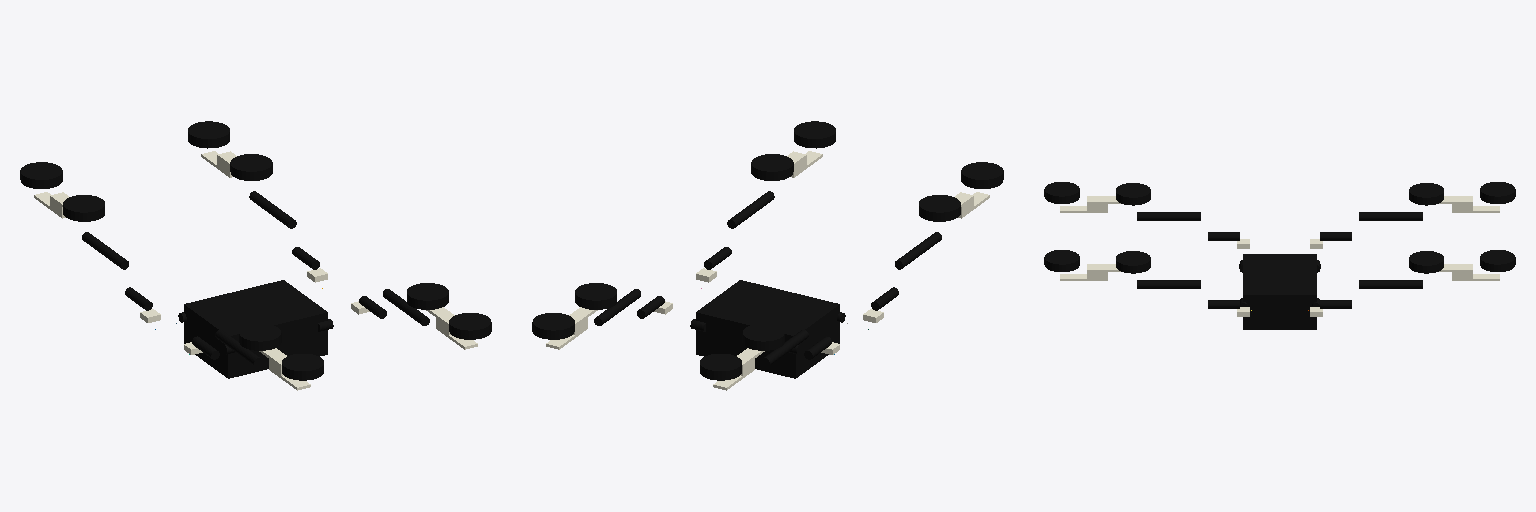
--- Facts derived from the render (not from the file) ---
The picture shows the robot from 3 angles, left to right: view 1: azimuth 30°, elevation 25°; view 2: azimuth 150°, elevation 25°; view 3: azimuth 270°, elevation 25°; orthographic projection.
Robot: A-2085-04 — 90 links, 89 joints (24 continuous, 65 fixed); root link cricket_base; default pose: every joint at zero.
Visible links, largest first — view 1: cricket_base, leg1_idle_pulley, leg2_drive_pulley/INPUT_INTERFACE, leg3_drive_pulley/INPUT_INTERFACE, leg4_idle_pulley, leg1_drive_pulley/INPUT_INTERFACE, leg2_idle_pulley, leg3_idle_pulley, leg4_drive_pulley/INPUT_INTERFACE, leg1_knee_ankle/INPUT_INTERFACE, leg3_knee_ankle/INPUT_INTERFACE, leg4_knee_ankle/INPUT_INTERFACE (+1 smaller); view 2: cricket_base, leg1_drive_pulley/INPUT_INTERFACE, leg2_idle_pulley, leg3_idle_pulley, leg4_drive_pulley/INPUT_INTERFACE, leg2_drive_pulley/INPUT_INTERFACE, leg1_idle_pulley, leg4_idle_pulley, leg3_drive_pulley/INPUT_INTERFACE, leg2_knee_ankle/INPUT_INTERFACE, leg4_knee_ankle/INPUT_INTERFACE, leg3_knee_ankle/INPUT_INTERFACE (+1 smaller); view 3: cricket_base, leg3_drive_pulley/INPUT_INTERFACE, leg4_drive_pulley/INPUT_INTERFACE, leg1_drive_pulley/INPUT_INTERFACE, leg2_drive_pulley/INPUT_INTERFACE, leg1_idle_pulley, leg2_idle_pulley, leg3_idle_pulley, leg4_idle_pulley, leg1_knee_ankle/INPUT_INTERFACE, leg2_knee_ankle/INPUT_INTERFACE, leg3_knee_ankle/INPUT_INTERFACE (+1 smaller).
Link boxes in pixels (<box>): cricket_base: <box>184,280,327,378</box>; leg1_idle_pulley: <box>230,154,272,180</box>; leg2_drive_pulley/INPUT_INTERFACE: <box>449,313,491,339</box>; leg3_drive_pulley/INPUT_INTERFACE: <box>20,162,62,188</box>; leg4_idle_pulley: <box>239,324,281,350</box>; leg1_drive_pulley/INPUT_INTERFACE: <box>188,121,229,148</box>; leg2_idle_pulley: <box>407,283,448,309</box>; leg3_idle_pulley: <box>63,195,104,221</box>; leg4_drive_pulley/INPUT_INTERFACE: <box>282,354,323,380</box>; leg1_knee_ankle/INPUT_INTERFACE: <box>249,191,296,228</box>; leg3_knee_ankle/INPUT_INTERFACE: <box>82,232,128,269</box>; leg4_knee_ankle/INPUT_INTERFACE: <box>215,330,262,366</box>; cricket_base: <box>696,280,839,378</box>; leg1_drive_pulley/INPUT_INTERFACE: <box>532,313,574,339</box>; leg2_idle_pulley: <box>751,154,793,180</box>; leg3_idle_pulley: <box>742,324,784,350</box>; leg4_drive_pulley/INPUT_INTERFACE: <box>961,162,1003,188</box>; leg2_drive_pulley/INPUT_INTERFACE: <box>794,121,835,148</box>; leg1_idle_pulley: <box>575,283,616,309</box>; leg4_idle_pulley: <box>919,195,960,221</box>; leg3_drive_pulley/INPUT_INTERFACE: <box>700,354,741,380</box>; leg2_knee_ankle/INPUT_INTERFACE: <box>727,191,774,228</box>; leg4_knee_ankle/INPUT_INTERFACE: <box>895,232,941,269</box>; leg3_knee_ankle/INPUT_INTERFACE: <box>761,330,808,366</box>; cricket_base: <box>1243,254,1316,329</box>; leg3_drive_pulley/INPUT_INTERFACE: <box>1480,182,1515,203</box>; leg4_drive_pulley/INPUT_INTERFACE: <box>1044,182,1079,203</box>; leg1_drive_pulley/INPUT_INTERFACE: <box>1480,250,1515,271</box>; leg2_drive_pulley/INPUT_INTERFACE: <box>1044,250,1079,271</box>; leg1_idle_pulley: <box>1409,251,1443,273</box>; leg2_idle_pulley: <box>1116,251,1150,273</box>; leg3_idle_pulley: <box>1409,183,1443,205</box>; leg4_idle_pulley: <box>1116,183,1150,205</box>; leg1_knee_ankle/INPUT_INTERFACE: <box>1359,280,1422,288</box>; leg2_knee_ankle/INPUT_INTERFACE: <box>1137,280,1200,288</box>; leg3_knee_ankle/INPUT_INTERFACE: <box>1359,212,1422,220</box>.
Size in the robot's own frame: 0.756 by 1.81 by 0.369 metres.
0 mesh visuals loaded from 7 distinct referenced files (none loaded); not drawn: 52 (reference not matched to a file when rendering).

The robot description file, URDF, robot "A-2085-04":
<?xml version="1.0" encoding="utf-8"?>
<!-- =================================================================================== -->
<!-- |    This document was autogenerated by xacro from cricket.xacro                  | -->
<!-- |    EDITING THIS FILE BY HAND IS NOT RECOMMENDED                                 | -->
<!-- =================================================================================== -->
<robot name="A-2085-04" version="1.0">
  <!-- This is a single xacro file you can include to get
  all of the HEBI components -->
  <!-- This automatically loads the gazebo plugin for xacro models
       which include hebi.xacro -->
  <gazebo>
    <plugin filename="libhebi_gazebo_plugin.so" name="hebi_gazebo_plugin"/>
  </gazebo>
  <gazebo>
    <plugin filename="libhebi_gazebo_plugin.so" name="hebi_gazebo_plugin">
      <actuators>
        <actuator family="Cricket" mocked="false" name="L1_J1_shoulder1" type="X8_16"/>
        <actuator family="Cricket" mocked="false" name="L1_J2_shoulder2" type="X8_16"/>
        <actuator family="Cricket" mocked="false" name="L1_J3_knee" type="X8_16"/>
        <actuator family="Cricket" mocked="false" name="L1_J4_ankle" type="X8_16"/>
        <actuator family="Cricket" mocked="false" name="L1_J5_track" type="X8_16"/>
        <actuator family="Cricket" mocked="false" name="L2_J1_shoulder1" type="X8_16"/>
        <actuator family="Cricket" mocked="false" name="L2_J2_shoulder2" type="X8_16"/>
        <actuator family="Cricket" mocked="false" name="L2_J3_knee" type="X8_16"/>
        <actuator family="Cricket" mocked="false" name="L2_J4_ankle" type="X8_16"/>
        <actuator family="Cricket" mocked="false" name="L2_J5_track" type="X8_16"/>
        <actuator family="Cricket" mocked="false" name="L3_J1_shoulder1" type="X8_16"/>
        <actuator family="Cricket" mocked="false" name="L3_J2_shoulder2" type="X8_16"/>
        <actuator family="Cricket" mocked="false" name="L3_J3_knee" type="X8_16"/>
        <actuator family="Cricket" mocked="false" name="L3_J4_ankle" type="X8_16"/>
        <actuator family="Cricket" mocked="false" name="L3_J5_track" type="X8_16"/>
        <actuator family="Cricket" mocked="false" name="L4_J1_shoulder1" type="X8_16"/>
        <actuator family="Cricket" mocked="false" name="L4_J2_shoulder2" type="X8_16"/>
        <actuator family="Cricket" mocked="false" name="L4_J3_knee" type="X8_16"/>
        <actuator family="Cricket" mocked="false" name="L4_J4_ankle" type="X8_16"/>
        <actuator family="Cricket" mocked="false" name="L4_J5_track" type="X8_16"/>
      </actuators>
    </plugin>
  </gazebo>
  <link name="cricket_base">
    <visual>
      <origin rpy="0 0 0" xyz="0 0 0"/>
      <geometry>
        <box size="0.370 0.285 0.150"/>
      </geometry>
      <material name="black">
        <color rgba="0.1 0.1 0.1 1"/>
      </material>
    </visual>
    <collision>
      <origin rpy="0 0 0" xyz="0 0 0"/>
      <geometry>
        <box size="0.370 0.285 0.150"/>
      </geometry>
    </collision>
  </link>
  <link name="cricket_base_inertia">
    <inertial>
      <mass value="2.0"/>
      <origin rpy="0 0 0" xyz="0 0 0"/>
      <inertia ixx="0.001" ixy="0" ixz="0" iyy="0.001" iyz="0" izz="0.001"/>
    </inertial>
  </link>
  <joint name="cricket_base_inertia_joint" type="fixed">
    <parent link="cricket_base"/>
    <child link="cricket_base_inertia"/>
  </joint>
  <joint name="base_leg1_joint" type="fixed">
    <origin rpy="-1.57079632679 0 0" xyz="0.135 0.100 0.030"/>
    <parent link="cricket_base"/>
    <child link="leg1_base_bracket/INPUT_INTERFACE"/>
  </joint>
  <link name="leg1_base_bracket/INPUT_INTERFACE">
    <visual>
      <origin rpy="0 0 0" xyz="0.0 0.0 0.01"/>
      <geometry>
        <box size="0.05 0.05 0.02"/>
      </geometry>
      <material name="beige">
        <color rgba="0.96 0.945 0.871 1"/>
      </material>
    </visual>
    <inertial>
      <mass value="0.05"/>
      <origin rpy="0 0 0" xyz="0 0 0"/>
      <inertia ixx="0.001" ixy="0" ixz="0" iyy="0.001" iyz="0" izz="0.001"/>
    </inertial>
  </link>
  <joint name="leg1_base_bracket_child_joint" type="fixed">
    <origin rpy="0 0 0" xyz="0.0 0.0 0.02"/>
    <parent link="leg1_base_bracket/INPUT_INTERFACE"/>
    <child link="leg1_base_shoulder1/INPUT_INTERFACE"/>
  </joint>
  <link name="leg1_base_shoulder1/INPUT_INTERFACE">
    <!-- Input Cap -->
    <visual>
      <origin rpy="0 0 0" xyz="0 0 0"/>
      <geometry>
        <mesh filename="package://hebi_description/meshes/A-2038-02.stl"/>
      </geometry>
      <material name="black">
        <color rgba="0.1 0.1 0.1 1"/>
      </material>
    </visual>
    <collision>
      <origin rpy="0 0 0" xyz="0 0 0"/>
      <geometry>
        <mesh filename="package://hebi_description/meshes/A-2038-02.stl"/>
      </geometry>
    </collision>
    <!-- Link Pipe -->
    <visual>
      <origin rpy="0 1.57075 0" xyz="0.0375 0 0.02"/>
      <geometry>
        <cylinder length="0.0496" radius=".016"/>
      </geometry>
      <material name="black">
        <color rgba="0.1 0.1 0.1 1"/>
      </material>
    </visual>
    <collision>
      <origin rpy="0 1.57075 0" xyz="0.0375 0 0.02"/>
      <geometry>
        <cylinder length="0.0496" radius=".016"/>
      </geometry>
    </collision>
    <!-- Output Cap -->
    <visual>
      <origin rpy="1.57079632679 4.71238898038 1.57079632679" xyz="0.075 0 0.02"/>
      <geometry>
        <mesh filename="package://hebi_description/meshes/A-2226-01.stl" scale="0.001 0.001 0.001"/>
      </geometry>
      <material name="black">
        <color rgba="0.1 0.1 0.1 1"/>
      </material>
    </visual>
    <collision>
      <origin rpy="1.57079632679 4.71238898038 1.57079632679" xyz="0.075 0 0.02"/>
      <geometry>
        <mesh filename="package://hebi_description/meshes/A-2039-02.stl"/>
      </geometry>
    </collision>
    <!-- Approximate inertia as thin rod about x axis -->
    <inertial>
      <origin rpy="0 0 0" xyz="0.0375 0 0.02"/>
      <mass value="0.302"/>
      <inertia ixx="0.0" ixy="0.0" ixz="0.0" iyy="0.0001415625" iyz="0.0" izz="0.0001415625"/>
    </inertial>
  </link>
  <gazebo reference="leg1_base_shoulder1/INPUT_INTERFACE">
    <material>Gazebo/Black</material>
  </gazebo>
  <joint name="leg1_base_shoulder1/OUTPUT_JOINT" type="fixed">
    <parent link="leg1_base_shoulder1/INPUT_INTERFACE"/>
    <child link="Cricket/L1_J1_shoulder1/INPUT_INTERFACE"/>
    <origin rpy="1.57079632679 4.71238898038 1.57079632679" xyz="0.075 0 0.02"/>
  </joint>
  <gazebo reference="leg1_base_shoulder1/OUTPUT_JOINT">
    <disableFixedJointLumping>true</disableFixedJointLumping>
    <preserveFixedJoint>true</preserveFixedJoint>
  </gazebo>
  <link name="Cricket/L1_J1_shoulder1/INPUT_INTERFACE">
    <visual>
      <origin rpy="0 0 0" xyz="0 0 0"/>
      <geometry>
        <mesh filename="package://hebi_description/meshes/X8.stl" scale="0.001 0.001 0.001"/>
      </geometry>
      <material name="red">
        <color rgba=".82 0.06 0.06 1"/>
      </material>
    </visual>
    <collision>
      <origin rpy="0 0 0" xyz="0 0 0"/>
      <geometry>
        <mesh filename="package://hebi_description/meshes/X8.stl" scale="0.001 0.001 0.001"/>
      </geometry>
    </collision>
    <inertial>
      <mass value="0.5"/>
      <origin rpy="0 0 0" xyz="-0.0145 -0.0031 0.0242"/>
      <inertia ixx="0.000246" ixy="0.0000444" ixz="0.0000266" iyy="0.000380" iyz="0.00000422" izz="0.000463"/>
    </inertial>
  </link>
  <gazebo reference="Cricket/L1_J1_shoulder1/INPUT_INTERFACE">
    <material>Gazebo/Red</material>
  </gazebo>
  <link name="HEBI_SIM/Cricket/L1_J1_shoulder1/X8_16">
    <visual>
      <origin rpy="0 0 0" xyz="-0.03 0 0.02"/>
      <geometry>
        <sphere radius="0.001"/>
      </geometry>
    </visual>
    <inertial>
      <mass value="0.001"/>
      <origin rpy="0 0 0" xyz="0 0 0"/>
      <inertia ixx="0.000001" ixy="0" ixz="0" iyy="0.000001" iyz="0" izz="0.000001"/>
    </inertial>
  </link>
  <joint name="HEBI_SIM_JOINT/Cricket/L1_J1_shoulder1" type="fixed">
    <parent link="Cricket/L1_J1_shoulder1/INPUT_INTERFACE"/>
    <child link="HEBI_SIM/Cricket/L1_J1_shoulder1/X8_16"/>
    <origin rpy="0 0 0" xyz="0 0 0"/>
  </joint>
  <gazebo reference="HEBI_SIM_JOINT/Cricket/L1_J1_shoulder1">
    <disableFixedJointLumping>true</disableFixedJointLumping>
    <preserveFixedJoint>true</preserveFixedJoint>
  </gazebo>
  <joint name="Cricket/L1_J1_shoulder1" type="continuous">
    <parent link="Cricket/L1_J1_shoulder1/INPUT_INTERFACE"/>
    <child link="leg_1_shoulder1_shoulder2/INPUT_INTERFACE"/>
    <origin rpy="0 0 0" xyz="0 0 0.045"/>
    <axis xyz="0 0 1"/>
    <limit effort="38" velocity="1.571"/>
    <dynamics damping="0.5" friction="0.5"/>
  </joint>
  <link name="leg_1_shoulder1_shoulder2/INPUT_INTERFACE">
    <visual>
      <origin rpy="1.57079632679 0 1.57079632679" xyz="0 0 0.005"/>
      <geometry>
        <mesh filename="package://hebi_description/meshes/PM-2149-01.stl" scale="0.001 0.001 0.001"/>
      </geometry>
      <material name="black">
        <color rgba="0.1 0.1 0.1 1"/>
      </material>
    </visual>
    <visual>
      <origin rpy="1.57079632679 0 3.14159265359" xyz="0 -.03 .04"/>
      <geometry>
        <mesh filename="package://hebi_description/meshes/PM-2150-01L.stl" scale="0.001 0.001 0.001"/>
      </geometry>
      <material name="black">
        <color rgba="0.1 0.1 0.1 1"/>
      </material>
    </visual>
    <collision>
      <origin rpy="1.57079632679 0 1.57079632679" xyz="0 0 0.005"/>
      <geometry>
        <mesh filename="package://hebi_description/meshes/PM-2149-01.stl" scale="0.001 0.001 0.001"/>
      </geometry>
    </collision>
    <collision>
      <origin rpy="1.57079632679 0 3.14159265359" xyz="0 -.03 .04"/>
      <geometry>
        <mesh filename="package://hebi_description/meshes/PM-2150-01L.stl" scale="0.001 0.001 0.001"/>
      </geometry>
    </collision>
    <!-- NOTE: inertia is just modelled as small sphere, and could be improved. -->
    <inertial>
      <origin rpy="0 0 0" xyz="0 -0.01125 .0275"/>
      <mass value="0.215"/>
      <inertia ixx="0.0003096" ixy="0.0" ixz="0.0" iyy="0.0003096" iyz="0.0" izz="0.0003096"/>
    </inertial>
  </link>
  <gazebo reference="leg_1_shoulder1_shoulder2/INPUT_INTERFACE">
    <material>Gazebo/Black</material>
  </gazebo>
  <joint name="leg_1_shoulder1_shoulder2/OUTPUT_INTERFACE" type="fixed">
    <parent link="leg_1_shoulder1_shoulder2/INPUT_INTERFACE"/>
    <child link="Cricket/L1_J2_shoulder2/INPUT_INTERFACE"/>
    <origin rpy="-1.57079632679 0 0" xyz="0 -.0225 .055"/>
  </joint>
  <gazebo reference="leg_1_shoulder1_shoulder2/OUTPUT_INTERFACE">
    <disableFixedJointLumping>true</disableFixedJointLumping>
    <preserveFixedJoint>true</preserveFixedJoint>
  </gazebo>
  <link name="Cricket/L1_J2_shoulder2/INPUT_INTERFACE">
    <visual>
      <origin rpy="0 0 0" xyz="0 0 0"/>
      <geometry>
        <mesh filename="package://hebi_description/meshes/X8.stl" scale="0.001 0.001 0.001"/>
      </geometry>
      <material name="red">
        <color rgba=".82 0.06 0.06 1"/>
      </material>
    </visual>
    <collision>
      <origin rpy="0 0 0" xyz="0 0 0"/>
      <geometry>
        <mesh filename="package://hebi_description/meshes/X8.stl" scale="0.001 0.001 0.001"/>
      </geometry>
    </collision>
    <inertial>
      <mass value="0.5"/>
      <origin rpy="0 0 0" xyz="-0.0145 -0.0031 0.0242"/>
      <inertia ixx="0.000246" ixy="0.0000444" ixz="0.0000266" iyy="0.000380" iyz="0.00000422" izz="0.000463"/>
    </inertial>
  </link>
  <gazebo reference="Cricket/L1_J2_shoulder2/INPUT_INTERFACE">
    <material>Gazebo/Red</material>
  </gazebo>
  <link name="HEBI_SIM/Cricket/L1_J2_shoulder2/X8_16">
    <visual>
      <origin rpy="0 0 0" xyz="-0.03 0 0.02"/>
      <geometry>
        <sphere radius="0.001"/>
      </geometry>
    </visual>
    <inertial>
      <mass value="0.001"/>
      <origin rpy="0 0 0" xyz="0 0 0"/>
      <inertia ixx="0.000001" ixy="0" ixz="0" iyy="0.000001" iyz="0" izz="0.000001"/>
    </inertial>
  </link>
  <joint name="HEBI_SIM_JOINT/Cricket/L1_J2_shoulder2" type="fixed">
    <parent link="Cricket/L1_J2_shoulder2/INPUT_INTERFACE"/>
    <child link="HEBI_SIM/Cricket/L1_J2_shoulder2/X8_16"/>
    <origin rpy="0 0 0" xyz="0 0 0"/>
  </joint>
  <gazebo reference="HEBI_SIM_JOINT/Cricket/L1_J2_shoulder2">
    <disableFixedJointLumping>true</disableFixedJointLumping>
    <preserveFixedJoint>true</preserveFixedJoint>
  </gazebo>
  <joint name="Cricket/L1_J2_shoulder2" type="continuous">
    <parent link="Cricket/L1_J2_shoulder2/INPUT_INTERFACE"/>
    <child link="leg_1_knee_to_link_spacer/INPUT_INTERFACE"/>
    <origin rpy="0 0 0" xyz="0 0 0.045"/>
    <axis xyz="0 0 1"/>
    <limit effort="38" velocity="1.571"/>
    <dynamics damping="0.5" friction="0.5"/>
  </joint>
  <link name="leg_1_knee_to_link_spacer/INPUT_INTERFACE">
    <visual>
      <origin rpy="0 0 0" xyz="0.0 0.0 0.01"/>
      <geometry>
        <box size="0.05 0.05 0.02"/>
      </geometry>
      <material name="beige">
        <color rgba="0.96 0.945 0.871 1"/>
      </material>
    </visual>
    <inertial>
      <mass value="0.05"/>
      <origin rpy="0 0 0" xyz="0 0 0"/>
      <inertia ixx="0.001" ixy="0" ixz="0" iyy="0.001" iyz="0" izz="0.001"/>
    </inertial>
  </link>
  <joint name="leg_1_knee_to_link_spacer_child_joint" type="fixed">
    <origin rpy="0 0 0" xyz="0.0 0.0 0.02"/>
    <parent link="leg_1_knee_to_link_spacer/INPUT_INTERFACE"/>
    <child link="leg_1_shoulder2_knee/INPUT_INTERFACE"/>
  </joint>
  <link name="leg_1_shoulder2_knee/INPUT_INTERFACE">
    <!-- Input Cap -->
    <visual>
      <origin rpy="0 0 0" xyz="0 0 0"/>
      <geometry>
        <mesh filename="package://hebi_description/meshes/A-2038-02.stl"/>
      </geometry>
      <material name="black">
        <color rgba="0.1 0.1 0.1 1"/>
      </material>
    </visual>
    <collision>
      <origin rpy="0 0 0" xyz="0 0 0"/>
      <geometry>
        <mesh filename="package://hebi_description/meshes/A-2038-02.stl"/>
      </geometry>
    </collision>
    <!-- Link Pipe -->
    <visual>
      <origin rpy="0 1.57075 0" xyz="0.075 0 0.02"/>
      <geometry>
        <cylinder length="0.1246" radius=".016"/>
      </geometry>
      <material name="black">
        <color rgba="0.1 0.1 0.1 1"/>
      </material>
    </visual>
    <collision>
      <origin rpy="0 1.57075 0" xyz="0.075 0 0.02"/>
      <geometry>
        <cylinder length="0.1246" radius=".016"/>
      </geometry>
    </collision>
    <!-- Output Cap -->
    <visual>
      <origin rpy="0 0 0" xyz="0.15 0.0 0.04"/>
      <geometry>
        <mesh filename="package://hebi_description/meshes/A-2039-02.stl"/>
      </geometry>
      <material name="black">
        <color rgba="0.1 0.1 0.1 1"/>
      </material>
    </visual>
    <collision>
      <origin rpy="0 0 0" xyz="0.15 0.0 0.04"/>
      <geometry>
        <mesh filename="package://hebi_description/meshes/A-2039-02.stl"/>
      </geometry>
    </collision>
    <!-- Approximate inertia as thin rod about x axis -->
    <inertial>
      <origin rpy="0 0 0" xyz="0.075 0 0.02"/>
      <mass value="0.332"/>
      <inertia ixx="0.0" ixy="0.0" ixz="0.0" iyy="0.0006225" iyz="0.0" izz="0.0006225"/>
    </inertial>
  </link>
  <gazebo reference="leg_1_shoulder2_knee/INPUT_INTERFACE">
    <material>Gazebo/Black</material>
  </gazebo>
  <joint name="leg_1_shoulder2_knee/OUTPUT_JOINT" type="fixed">
    <parent link="leg_1_shoulder2_knee/INPUT_INTERFACE"/>
    <child link="Cricket/L1_J3_knee/INPUT_INTERFACE"/>
    <origin rpy="0 0 0" xyz="0.15 -0.0 0.04"/>
  </joint>
  <gazebo reference="leg_1_shoulder2_knee/OUTPUT_JOINT">
    <disableFixedJointLumping>true</disableFixedJointLumping>
    <preserveFixedJoint>true</preserveFixedJoint>
  </gazebo>
  <link name="Cricket/L1_J3_knee/INPUT_INTERFACE">
    <visual>
      <origin rpy="0 0 0" xyz="0 0 0"/>
      <geometry>
        <mesh filename="package://hebi_description/meshes/X8.stl" scale="0.001 0.001 0.001"/>
      </geometry>
      <material name="red">
        <color rgba=".82 0.06 0.06 1"/>
      </material>
    </visual>
    <collision>
      <origin rpy="0 0 0" xyz="0 0 0"/>
      <geometry>
        <mesh filename="package://hebi_description/meshes/X8.stl" scale="0.001 0.001 0.001"/>
      </geometry>
    </collision>
    <inertial>
      <mass value="0.5"/>
      <origin rpy="0 0 0" xyz="-0.0145 -0.0031 0.0242"/>
      <inertia ixx="0.000246" ixy="0.0000444" ixz="0.0000266" iyy="0.000380" iyz="0.00000422" izz="0.000463"/>
    </inertial>
  </link>
  <gazebo reference="Cricket/L1_J3_knee/INPUT_INTERFACE">
    <material>Gazebo/Red</material>
  </gazebo>
  <link name="HEBI_SIM/Cricket/L1_J3_knee/X8_16">
    <visual>
      <origin rpy="0 0 0" xyz="-0.03 0 0.02"/>
      <geometry>
        <sphere radius="0.001"/>
      </geometry>
    </visual>
    <inertial>
      <mass value="0.001"/>
      <origin rpy="0 0 0" xyz="0 0 0"/>
      <inertia ixx="0.000001" ixy="0" ixz="0" iyy="0.000001" iyz="0" izz="0.000001"/>
    </inertial>
  </link>
  <joint name="HEBI_SIM_JOINT/Cricket/L1_J3_knee" type="fixed">
    <parent link="Cricket/L1_J3_knee/INPUT_INTERFACE"/>
    <child link="HEBI_SIM/Cricket/L1_J3_knee/X8_16"/>
    <origin rpy="0 0 0" xyz="0 0 0"/>
  </joint>
  <gazebo reference="HEBI_SIM_JOINT/Cricket/L1_J3_knee">
    <disableFixedJointLumping>true</disableFixedJointLumping>
    <preserveFixedJoint>true</preserveFixedJoint>
  </gazebo>
  <joint name="Cricket/L1_J3_knee" type="continuous">
    <parent link="Cricket/L1_J3_knee/INPUT_INTERFACE"/>
    <child link="leg1_knee_ankle/INPUT_INTERFACE"/>
    <origin rpy="0 0 0" xyz="0 0 0.045"/>
    <axis xyz="0 0 1"/>
    <limit effort="38" velocity="1.571"/>
    <dynamics damping="0.5" friction="0.5"/>
  </joint>
  <link name="leg1_knee_ankle/INPUT_INTERFACE">
    <!-- Input Cap -->
    <visual>
      <origin rpy="0 0 0" xyz="0 0 0"/>
      <geometry>
        <mesh filename="package://hebi_description/meshes/A-2038-02.stl"/>
      </geometry>
      <material name="black">
        <color rgba="0.1 0.1 0.1 1"/>
      </material>
    </visual>
    <collision>
      <origin rpy="0 0 0" xyz="0 0 0"/>
      <geometry>
        <mesh filename="package://hebi_description/meshes/A-2038-02.stl"/>
      </geometry>
    </collision>
    <!-- Link Pipe -->
    <visual>
      <origin rpy="0 1.57075 0" xyz="0.1375 0 0.02"/>
      <geometry>
        <cylinder length="0.2496" radius=".016"/>
      </geometry>
      <material name="black">
        <color rgba="0.1 0.1 0.1 1"/>
      </material>
    </visual>
    <collision>
      <origin rpy="0 1.57075 0" xyz="0.1375 0 0.02"/>
      <geometry>
        <cylinder length="0.2496" radius=".016"/>
      </geometry>
    </collision>
    <!-- Output Cap -->
    <visual>
      <origin rpy="0 0 0" xyz="0.275 0.0 0.04"/>
      <geometry>
        <mesh filename="package://hebi_description/meshes/A-2039-02.stl"/>
      </geometry>
      <material name="black">
        <color rgba="0.1 0.1 0.1 1"/>
      </material>
    </visual>
    <collision>
      <origin rpy="0 0 0" xyz="0.275 0.0 0.04"/>
      <geometry>
        <mesh filename="package://hebi_description/meshes/A-2039-02.stl"/>
      </geometry>
    </collision>
    <!-- Approximate inertia as thin rod about x axis -->
    <inertial>
      <origin rpy="0 0 0" xyz="0.1375 0 0.02"/>
      <mass value="0.382"/>
      <inertia ixx="0.0" ixy="0.0" ixz="0.0" iyy="0.00240739583333" iyz="0.0" izz="0.00240739583333"/>
    </inertial>
  </link>
  <gazebo reference="leg1_knee_ankle/INPUT_INTERFACE">
    <material>Gazebo/Black</material>
  </gazebo>
  <joint name="leg1_knee_ankle/OUTPUT_JOINT" type="fixed">
    <parent link="leg1_knee_ankle/INPUT_INTERFACE"/>
    <child link="leg1_ankle_spacer/INPUT_INTERFACE"/>
    <origin rpy="0 0 0" xyz="0.275 -0.0 0.04"/>
  </joint>
  <gazebo reference="leg1_knee_ankle/OUTPUT_JOINT">
    <disableFixedJointLumping>true</disableFixedJointLumping>
    <preserveFixedJoint>true</preserveFixedJoint>
  </gazebo>
  <link name="leg1_ankle_spacer/INPUT_INTERFACE">
    <inertial>
      <mass value="0.01"/>
      <origin rpy="0 0 0" xyz="0 0 0"/>
      <inertia ixx="0.001" ixy="0" ixz="0" iyy="0.001" iyz="0" izz="0.001"/>
    </inertial>
  </link>
  <link name="Cricket/L1_J4_ankle/INPUT_INTERFACE">
    <visual>
      <origin rpy="0 0 0" xyz="0 0 0"/>
      <geometry>
        <mesh filename="package://hebi_description/meshes/X8.stl" scale="0.001 0.001 0.001"/>
      </geometry>
      <material name="red">
        <color rgba=".82 0.06 0.06 1"/>
      </material>
    </visual>
    <collision>
      <origin rpy="0 0 0" xyz="0 0 0"/>
      <geometry>
        <mesh filename="package://hebi_description/meshes/X8.stl" scale="0.001 0.001 0.001"/>
      </geometry>
    </collision>
    <inertial>
      <mass value="0.5"/>
      <origin rpy="0 0 0" xyz="-0.0145 -0.0031 0.0242"/>
      <inertia ixx="0.000246" ixy="0.0000444" ixz="0.0000266" iyy="0.000380" iyz="0.00000422" izz="0.000463"/>
    </inertial>
  </link>
  <gazebo reference="Cricket/L1_J4_ankle/INPUT_INTERFACE">
    <material>Gazebo/Red</material>
  </gazebo>
  <link name="HEBI_SIM/Cricket/L1_J4_ankle/X8_16">
    <visual>
      <origin rpy="0 0 0" xyz="-0.03 0 0.02"/>
      <geometry>
        <sphere radius="0.001"/>
      </geometry>
    </visual>
    <inertial>
      <mass value="0.001"/>
      <origin rpy="0 0 0" xyz="0 0 0"/>
      <inertia ixx="0.000001" ixy="0" ixz="0" iyy="0.000001" iyz="0" izz="0.000001"/>
    </inertial>
  </link>
  <joint name="HEBI_SIM_JOINT/Cricket/L1_J4_ankle" type="fixed">
    <parent link="Cricket/L1_J4_ankle/INPUT_INTERFACE"/>
    <child link="HEBI_SIM/Cricket/L1_J4_ankle/X8_16"/>
    <origin rpy="0 0 0" xyz="0 0 0"/>
  </joint>
  <gazebo reference="HEBI_SIM_JOINT/Cricket/L1_J4_ankle">
    <disableFixedJointLumping>true</disableFixedJointLumping>
    <preserveFixedJoint>true</preserveFixedJoint>
  </gazebo>
  <joint name="Cricket/L1_J4_ankle" type="continuous">
    <parent link="leg1_ankle_spacer/INPUT_INTERFACE"/>
    <child link="Cricket/L1_J4_ankle/INPUT_INTERFACE"/>
    <origin rpy="0 3.14159265359 0" xyz="0 0 0.045"/>
    <axis xyz="0 0 1"/>
    <limit effort="38" velocity="1.571"/>
    <dynamics damping="0.5" friction="0.5"/>
  </joint>
  <joint name="Cricket/L1_J4_ankle_fixed" type="fixed">
    <parent link="Cricket/L1_J4_ankle/INPUT_INTERFACE"/>
    <child link="leg1_track_bracket_1/INPUT_INTERFACE"/>
    <origin rpy="0 0 0" xyz="0 0 0"/>
  </joint>
  <link name="leg1_track_bracket_1/INPUT_INTERFACE">
    <visual>
      <origin rpy="0 0 0" xyz="-0.0685 0.0 -0.005"/>
      <geometry>
        <box size="0.15 0.05 0.01"/>
      </geometry>
      <material name="beige">
        <color rgba="0.96 0.945 0.871 1"/>
      </material>
    </visual>
    <inertial>
      <mass value="0.3"/>
      <origin rpy="0 0 0" xyz="0 0 0"/>
      <inertia ixx="0.001" ixy="0" ixz="0" iyy="0.001" iyz="0" izz="0.001"/>
    </inertial>
  </link>
  <joint name="leg1_track_bracket_1_child_joint" type="fixed">
    <origin rpy="0 0 0" xyz="-0.137 0.0 -0.01"/>
    <parent link="leg1_track_bracket_1/INPUT_INTERFACE"/>
    <child link="leg1_track_bracket_2/INPUT_INTERFACE"/>
  </joint>
  <link name="leg1_track_bracket_2/INPUT_INTERFACE">
    <visual>
      <origin rpy="0 0 0" xyz="0.0 0.0 0.025"/>
      <geometry>
        <box size="0.08 0.05 0.05"/>
      </geometry>
      <material name="beige">
        <color rgba="0.96 0.945 0.871 1"/>
      </material>
    </visual>
    <inertial>
      <mass value="0.3"/>
      <origin rpy="0 0 0" xyz="0 0 0"/>
      <inertia ixx="0.001" ixy="0" ixz="0" iyy="0.001" iyz="0" izz="0.001"/>
    </inertial>
  </link>
  <joint name="leg1_track_bracket_2_child_joint" type="fixed">
    <origin rpy="0 0 0" xyz="0.0 0.0 0.05"/>
    <parent link="leg1_track_bracket_2/INPUT_INTERFACE"/>
    <child link="leg1_track_bracket_3/INPUT_INTERFACE"/>
  </joint>
  <link name="leg1_track_bracket_3/INPUT_INTERFACE">
    <visual>
      <origin rpy="0 0 0" xyz="-0.0685 0.0 -0.005"/>
      <geometry>
        <box size="0.15 0.05 0.01"/>
      </geometry>
      <material name="beige">
        <color rgba="0.96 0.945 0.871 1"/>
      </material>
    </visual>
    <inertial>
      <mass value="0.3"/>
      <origin rpy="0 0 0" xyz="0 0 0"/>
      <inertia ixx="0.001" ixy="0" ixz="0" iyy="0.001" iyz="0" izz="0.001"/>
    </inertial>
  </link>
  <joint name="leg1_track_bracket_3_child_joint" type="fixed">
    <origin rpy="0 3.14159265359 0" xyz="-0.137 0.0 -0.01"/>
    <parent link="leg1_track_bracket_3/INPUT_INTERFACE"/>
    <child link="Cricket/L1_J5_track/INPUT_INTERFACE"/>
  </joint>
  <link name="Cricket/L1_J5_track/INPUT_INTERFACE">
    <visual>
      <origin rpy="0 0 0" xyz="0 0 0"/>
      <geometry>
        <mesh filename="package://hebi_description/meshes/X8.stl" scale="0.001 0.001 0.001"/>
      </geometry>
      <material name="red">
        <color rgba=".82 0.06 0.06 1"/>
      </material>
    </visual>
    <collision>
      <origin rpy="0 0 0" xyz="0 0 0"/>
      <geometry>
        <mesh filename="package://hebi_description/meshes/X8.stl" scale="0.001 0.001 0.001"/>
      </geometry>
    </collision>
    <inertial>
      <mass value="0.5"/>
      <origin rpy="0 0 0" xyz="-0.0145 -0.0031 0.0242"/>
      <inertia ixx="0.000246" ixy="0.0000444" ixz="0.0000266" iyy="0.000380" iyz="0.00000422" izz="0.000463"/>
    </inertial>
  </link>
  <gazebo reference="Cricket/L1_J5_track/INPUT_INTERFACE">
    <material>Gazebo/Red</material>
  </gazebo>
  <link name="HEBI_SIM/Cricket/L1_J5_track/X8_16">
    <visual>
      <origin rpy="0 0 0" xyz="-0.03 0 0.02"/>
      <geometry>
        <sphere radius="0.001"/>
      </geometry>
    </visual>
    <inertial>
      <mass value="0.001"/>
      <origin rpy="0 0 0" xyz="0 0 0"/>
      <inertia ixx="0.000001" ixy="0" ixz="0" iyy="0.000001" iyz="0" izz="0.000001"/>
    </inertial>
  </link>
  <joint name="HEBI_SIM_JOINT/Cricket/L1_J5_track" type="fixed">
    <parent link="Cricket/L1_J5_track/INPUT_INTERFACE"/>
    <child link="HEBI_SIM/Cricket/L1_J5_track/X8_16"/>
    <origin rpy="0 0 0" xyz="0 0 0"/>
  </joint>
  <gazebo reference="HEBI_SIM_JOINT/Cricket/L1_J5_track">
    <disableFixedJointLumping>true</disableFixedJointLumping>
    <preserveFixedJoint>true</preserveFixedJoint>
  </gazebo>
  <joint name="Cricket/L1_J5_track" type="continuous">
    <parent link="Cricket/L1_J5_track/INPUT_INTERFACE"/>
    <child link="leg1_drive_pulley/INPUT_INTERFACE"/>
    <origin rpy="0 0 0" xyz="0 0 0.045"/>
    <axis xyz="0 0 1"/>
    <limit effort="38" velocity="1.571"/>
    <dynamics damping="0.5" friction="0.5"/>
  </joint>
  <link name="leg1_drive_pulley/INPUT_INTERFACE">
    <visual>
      <origin rpy="0 0 0" xyz="0 0 0.020"/>
      <geometry>
        <cylinder length="0.033" radius="0.068"/>
      </geometry>
      <material name="black">
        <color rgba="0.1 0.1 0.1 1"/>
      </material>
    </visual>
    <collision>
      <origin rpy="0 0 0" xyz="0 0 0.020"/>
      <geometry>
        <cylinder length="0.033" radius="0.068"/>
      </geometry>
    </collision>
    <inertial>
      <mass value="0.1"/>
      <origin rpy="0 0 0" xyz="0 0 0"/>
      <inertia ixx="0.001" ixy="0" ixz="0" iyy="0.001" iyz="0" izz="0.001"/>
    </inertial>
  </link>
  <link name="leg1_idle_pulley">
    <visual>
      <origin rpy="0 0 0" xyz="0.0 0.0 -0.03"/>
      <geometry>
        <cylinder length="0.033" radius="0.068"/>
      </geometry>
      <material name="black">
        <color rgba="0.1 0.1 0.1 1"/>
      </material>
    </visual>
    <inertial>
      <mass value="0.1"/>
      <origin rpy="0 0 0" xyz="0 0 0"/>
      <inertia ixx="0.001" ixy="0" ixz="0" iyy="0.001" iyz="0" izz="0.001"/>
    </inertial>
  </link>
  <joint name="leg1_idle_pulley_joint" type="continuous">
    <origin rpy="0 0 0" xyz="0 0 0"/>
    <parent link="Cricket/L1_J4_ankle/INPUT_INTERFACE"/>
    <child link="leg1_idle_pulley"/>
    <axis xyz="0 0 1"/>
  </joint>
  <joint name="base_leg2_joint" type="fixed">
    <origin rpy="1.57079632679 0 0" xyz="0.135 -0.100 0.030"/>
    <parent link="cricket_base"/>
    <child link="leg2_base_bracket/INPUT_INTERFACE"/>
  </joint>
  <link name="leg2_base_bracket/INPUT_INTERFACE">
    <visual>
      <origin rpy="0 0 0" xyz="0.0 0.0 0.01"/>
      <geometry>
        <box size="0.05 0.05 0.02"/>
      </geometry>
      <material name="beige">
        <color rgba="0.96 0.945 0.871 1"/>
      </material>
    </visual>
    <inertial>
      <mass value="0.05"/>
      <origin rpy="0 0 0" xyz="0 0 0"/>
      <inertia ixx="0.001" ixy="0" ixz="0" iyy="0.001" iyz="0" izz="0.001"/>
    </inertial>
  </link>
  <joint name="leg2_base_bracket_child_joint" type="fixed">
    <origin rpy="0 0 0" xyz="0.0 0.0 0.02"/>
    <parent link="leg2_base_bracket/INPUT_INTERFACE"/>
    <child link="leg2_base_shoulder1/INPUT_INTERFACE"/>
  </joint>
  <link name="leg2_base_shoulder1/INPUT_INTERFACE">
    <!-- Input Cap -->
    <visual>
      <origin rpy="0 0 0" xyz="0 0 0"/>
      <geometry>
        <mesh filename="package://hebi_description/meshes/A-2038-02.stl"/>
      </geometry>
      <material name="black">
        <color rgba="0.1 0.1 0.1 1"/>
      </material>
    </visual>
    <collision>
      <origin rpy="0 0 0" xyz="0 0 0"/>
      <geometry>
        <mesh filename="package://hebi_description/meshes/A-2038-02.stl"/>
      </geometry>
    </collision>
    <!-- Link Pipe -->
    <visual>
      <origin rpy="0 1.57075 0" xyz="0.0375 0 0.02"/>
      <geometry>
        <cylinder length="0.0496" radius=".016"/>
      </geometry>
      <material name="black">
        <color rgba="0.1 0.1 0.1 1"/>
      </material>
    </visual>
    <collision>
      <origin rpy="0 1.57075 0" xyz="0.0375 0 0.02"/>
      <geometry>
        <cylinder length="0.0496" radius=".016"/>
      </geometry>
    </collision>
    <!-- Output Cap -->
    <visual>
      <origin rpy="1.57079632679 4.71238898038 1.57079632679" xyz="0.075 0 0.02"/>
      <geometry>
        <mesh filename="package://hebi_description/meshes/A-2226-01.stl" scale="0.001 0.001 0.001"/>
      </geometry>
      <material name="black">
        <color rgba="0.1 0.1 0.1 1"/>
      </material>
    </visual>
    <collision>
      <origin rpy="1.57079632679 4.71238898038 1.57079632679" xyz="0.075 0 0.02"/>
      <geometry>
        <mesh filename="package://hebi_description/meshes/A-2039-02.stl"/>
      </geometry>
    </collision>
    <!-- Approximate inertia as thin rod about x axis -->
    <inertial>
      <origin rpy="0 0 0" xyz="0.0375 0 0.02"/>
      <mass value="0.302"/>
      <inertia ixx="0.0" ixy="0.0" ixz="0.0" iyy="0.0001415625" iyz="0.0" izz="0.0001415625"/>
    </inertial>
  </link>
  <gazebo reference="leg2_base_shoulder1/INPUT_INTERFACE">
    <material>Gazebo/Black</material>
  </gazebo>
  <joint name="leg2_base_shoulder1/OUTPUT_JOINT" type="fixed">
    <parent link="leg2_base_shoulder1/INPUT_INTERFACE"/>
    <child link="Cricket/L2_J1_shoulder1/INPUT_INTERFACE"/>
    <origin rpy="1.57079632679 4.71238898038 1.57079632679" xyz="0.075 0 0.02"/>
  </joint>
  <gazebo reference="leg2_base_shoulder1/OUTPUT_JOINT">
    <disableFixedJointLumping>true</disableFixedJointLumping>
    <preserveFixedJoint>true</preserveFixedJoint>
  </gazebo>
  <link name="Cricket/L2_J1_shoulder1/INPUT_INTERFACE">
    <visual>
      <origin rpy="0 0 0" xyz="0 0 0"/>
      <geometry>
        <mesh filename="package://hebi_description/meshes/X8.stl" scale="0.001 0.001 0.001"/>
      </geometry>
      <material name="red">
        <color rgba=".82 0.06 0.06 1"/>
      </material>
    </visual>
    <collision>
      <origin rpy="0 0 0" xyz="0 0 0"/>
      <geometry>
        <mesh filename="package://hebi_description/meshes/X8.stl" scale="0.001 0.001 0.001"/>
      </geometry>
    </collision>
    <inertial>
      <mass value="0.5"/>
      <origin rpy="0 0 0" xyz="-0.0145 -0.0031 0.0242"/>
      <inertia ixx="0.000246" ixy="0.0000444" ixz="0.0000266" iyy="0.000380" iyz="0.00000422" izz="0.000463"/>
    </inertial>
  </link>
  <gazebo reference="Cricket/L2_J1_shoulder1/INPUT_INTERFACE">
    <material>Gazebo/Red</material>
  </gazebo>
  <link name="HEBI_SIM/Cricket/L2_J1_shoulder1/X8_16">
    <visual>
      <origin rpy="0 0 0" xyz="-0.03 0 0.02"/>
      <geometry>
        <sphere radius="0.001"/>
      </geometry>
    </visual>
    <inertial>
      <mass value="0.001"/>
      <origin rpy="0 0 0" xyz="0 0 0"/>
      <inertia ixx="0.000001" ixy="0" ixz="0" iyy="0.000001" iyz="0" izz="0.000001"/>
    </inertial>
  </link>
  <joint name="HEBI_SIM_JOINT/Cricket/L2_J1_shoulder1" type="fixed">
    <parent link="Cricket/L2_J1_shoulder1/INPUT_INTERFACE"/>
    <child link="HEBI_SIM/Cricket/L2_J1_shoulder1/X8_16"/>
    <origin rpy="0 0 0" xyz="0 0 0"/>
  </joint>
  <gazebo reference="HEBI_SIM_JOINT/Cricket/L2_J1_shoulder1">
    <disableFixedJointLumping>true</disableFixedJointLumping>
    <preserveFixedJoint>true</preserveFixedJoint>
  </gazebo>
  <joint name="Cricket/L2_J1_shoulder1" type="continuous">
    <parent link="Cricket/L2_J1_shoulder1/INPUT_INTERFACE"/>
    <child link="leg_2_shoulder1_shoulder2/INPUT_INTERFACE"/>
    <origin rpy="0 0 0" xyz="0 0 0.045"/>
    <axis xyz="0 0 1"/>
    <limit effort="38" velocity="1.571"/>
    <dynamics damping="0.5" friction="0.5"/>
  </joint>
  <link name="leg_2_shoulder1_shoulder2/INPUT_INTERFACE">
    <visual>
      <origin rpy="1.57079632679 0 -1.57079632679" xyz="0 0 0.005"/>
      <geometry>
        <mesh filename="package://hebi_description/meshes/PM-2149-01.stl" scale="0.001 0.001 0.001"/>
      </geometry>
      <material name="black">
        <color rgba="0.1 0.1 0.1 1"/>
      </material>
    </visual>
    <visual>
      <origin rpy="1.57079632679 0 0" xyz="0 .03 .04"/>
      <geometry>
        <mesh filename="package://hebi_description/meshes/PM-2150-01R.stl" scale="0.001 0.001 0.001"/>
      </geometry>
      <material name="black">
        <color rgba="0.1 0.1 0.1 1"/>
      </material>
    </visual>
    <collision>
      <origin rpy="1.57079632679 0 -1.57079632679" xyz="0 0 0.005"/>
      <geometry>
        <mesh filename="package://hebi_description/meshes/PM-2149-01.stl" scale="0.001 0.001 0.001"/>
      </geometry>
    </collision>
    <collision>
      <origin rpy="1.57079632679 0 0" xyz="0 .03 .04"/>
      <geometry>
        <mesh filename="package://hebi_description/meshes/PM-2150-01R.stl" scale="0.001 0.001 0.001"/>
      </geometry>
    </collision>
    <!-- NOTE: inertia is just modelled as small sphere, and could be improved. -->
    <inertial>
      <origin rpy="0 0 0" xyz="0 0.01125 .0275"/>
      <mass value="0.215"/>
      <inertia ixx="0.0003096" ixy="0.0" ixz="0.0" iyy="0.0003096" iyz="0.0" izz="0.0003096"/>
    </inertial>
  </link>
  <gazebo reference="leg_2_shoulder1_shoulder2/INPUT_INTERFACE">
    <material>Gazebo/Black</material>
  </gazebo>
  <joint name="leg_2_shoulder1_shoulder2/OUTPUT_INTERFACE" type="fixed">
    <parent link="leg_2_shoulder1_shoulder2/INPUT_INTERFACE"/>
    <child link="Cricket/L2_J2_shoulder2/INPUT_INTERFACE"/>
    <origin rpy="1.57079632679 0 0" xyz="0 .0225 .055"/>
  </joint>
  <gazebo reference="leg_2_shoulder1_shoulder2/OUTPUT_INTERFACE">
    <disableFixedJointLumping>true</disableFixedJointLumping>
    <preserveFixedJoint>true</preserveFixedJoint>
  </gazebo>
  <link name="Cricket/L2_J2_shoulder2/INPUT_INTERFACE">
    <visual>
      <origin rpy="0 0 0" xyz="0 0 0"/>
      <geometry>
        <mesh filename="package://hebi_description/meshes/X8.stl" scale="0.001 0.001 0.001"/>
      </geometry>
      <material name="red">
        <color rgba=".82 0.06 0.06 1"/>
      </material>
    </visual>
    <collision>
      <origin rpy="0 0 0" xyz="0 0 0"/>
      <geometry>
        <mesh filename="package://hebi_description/meshes/X8.stl" scale="0.001 0.001 0.001"/>
      </geometry>
    </collision>
    <inertial>
      <mass value="0.5"/>
      <origin rpy="0 0 0" xyz="-0.0145 -0.0031 0.0242"/>
      <inertia ixx="0.000246" ixy="0.0000444" ixz="0.0000266" iyy="0.000380" iyz="0.00000422" izz="0.000463"/>
    </inertial>
  </link>
  <gazebo reference="Cricket/L2_J2_shoulder2/INPUT_INTERFACE">
    <material>Gazebo/Red</material>
  </gazebo>
  <link name="HEBI_SIM/Cricket/L2_J2_shoulder2/X8_16">
    <visual>
      <origin rpy="0 0 0" xyz="-0.03 0 0.02"/>
      <geometry>
        <sphere radius="0.001"/>
      </geometry>
    </visual>
    <inertial>
      <mass value="0.001"/>
      <origin rpy="0 0 0" xyz="0 0 0"/>
      <inertia ixx="0.000001" ixy="0" ixz="0" iyy="0.000001" iyz="0" izz="0.000001"/>
    </inertial>
  </link>
  <joint name="HEBI_SIM_JOINT/Cricket/L2_J2_shoulder2" type="fixed">
    <parent link="Cricket/L2_J2_shoulder2/INPUT_INTERFACE"/>
    <child link="HEBI_SIM/Cricket/L2_J2_shoulder2/X8_16"/>
    <origin rpy="0 0 0" xyz="0 0 0"/>
  </joint>
  <gazebo reference="HEBI_SIM_JOINT/Cricket/L2_J2_shoulder2">
    <disableFixedJointLumping>true</disableFixedJointLumping>
    <preserveFixedJoint>true</preserveFixedJoint>
  </gazebo>
  <joint name="Cricket/L2_J2_shoulder2" type="continuous">
    <parent link="Cricket/L2_J2_shoulder2/INPUT_INTERFACE"/>
    <child link="leg_2_knee_to_link_spacer/INPUT_INTERFACE"/>
    <origin rpy="0 0 0" xyz="0 0 0.045"/>
    <axis xyz="0 0 1"/>
    <limit effort="38" velocity="1.571"/>
    <dynamics damping="0.5" friction="0.5"/>
  </joint>
  <link name="leg_2_knee_to_link_spacer/INPUT_INTERFACE">
    <visual>
      <origin rpy="0 0 0" xyz="0.0 0.0 0.01"/>
      <geometry>
        <box size="0.05 0.05 0.02"/>
      </geometry>
      <material name="beige">
        <color rgba="0.96 0.945 0.871 1"/>
      </material>
    </visual>
    <inertial>
      <mass value="0.05"/>
      <origin rpy="0 0 0" xyz="0 0 0"/>
      <inertia ixx="0.001" ixy="0" ixz="0" iyy="0.001" iyz="0" izz="0.001"/>
    </inertial>
  </link>
  <joint name="leg_2_knee_to_link_spacer_child_joint" type="fixed">
    <origin rpy="0 0 0" xyz="0.0 0.0 0.02"/>
    <parent link="leg_2_knee_to_link_spacer/INPUT_INTERFACE"/>
    <child link="leg_2_shoulder2_knee/INPUT_INTERFACE"/>
  </joint>
  <link name="leg_2_shoulder2_knee/INPUT_INTERFACE">
    <!-- Input Cap -->
    <visual>
      <origin rpy="0 0 0" xyz="0 0 0"/>
      <geometry>
        <mesh filename="package://hebi_description/meshes/A-2038-02.stl"/>
      </geometry>
      <material name="black">
        <color rgba="0.1 0.1 0.1 1"/>
      </material>
    </visual>
    <collision>
      <origin rpy="0 0 0" xyz="0 0 0"/>
      <geometry>
        <mesh filename="package://hebi_description/meshes/A-2038-02.stl"/>
      </geometry>
    </collision>
    <!-- Link Pipe -->
    <visual>
      <origin rpy="0 1.57075 0" xyz="0.075 0 0.02"/>
      <geometry>
        <cylinder length="0.1246" radius=".016"/>
      </geometry>
      <material name="black">
        <color rgba="0.1 0.1 0.1 1"/>
      </material>
    </visual>
    <collision>
      <origin rpy="0 1.57075 0" xyz="0.075 0 0.02"/>
      <geometry>
        <cylinder length="0.1246" radius=".016"/>
      </geometry>
    </collision>
    <!-- Output Cap -->
    <visual>
      <origin rpy="0 0 0" xyz="0.15 0.0 0.04"/>
      <geometry>
        <mesh filename="package://hebi_description/meshes/A-2039-02.stl"/>
      </geometry>
      <material name="black">
        <color rgba="0.1 0.1 0.1 1"/>
      </material>
    </visual>
    <collision>
      <origin rpy="0 0 0" xyz="0.15 0.0 0.04"/>
      <geometry>
        <mesh filename="package://hebi_description/meshes/A-2039-02.stl"/>
      </geometry>
    </collision>
    <!-- Approximate inertia as thin rod about x axis -->
    <inertial>
      <origin rpy="0 0 0" xyz="0.075 0 0.02"/>
      <mass value="0.332"/>
      <inertia ixx="0.0" ixy="0.0" ixz="0.0" iyy="0.0006225" iyz="0.0" izz="0.0006225"/>
    </inertial>
  </link>
  <gazebo reference="leg_2_shoulder2_knee/INPUT_INTERFACE">
    <material>Gazebo/Black</material>
  </gazebo>
  <joint name="leg_2_shoulder2_knee/OUTPUT_JOINT" type="fixed">
    <parent link="leg_2_shoulder2_knee/INPUT_INTERFACE"/>
    <child link="Cricket/L2_J3_knee/INPUT_INTERFACE"/>
    <origin rpy="0 0 0" xyz="0.15 -0.0 0.04"/>
  </joint>
  <gazebo reference="leg_2_shoulder2_knee/OUTPUT_JOINT">
    <disableFixedJointLumping>true</disableFixedJointLumping>
    <preserveFixedJoint>true</preserveFixedJoint>
  </gazebo>
  <link name="Cricket/L2_J3_knee/INPUT_INTERFACE">
    <visual>
      <origin rpy="0 0 0" xyz="0 0 0"/>
      <geometry>
        <mesh filename="package://hebi_description/meshes/X8.stl" scale="0.001 0.001 0.001"/>
      </geometry>
      <material name="red">
        <color rgba=".82 0.06 0.06 1"/>
      </material>
    </visual>
    <collision>
      <origin rpy="0 0 0" xyz="0 0 0"/>
      <geometry>
        <mesh filename="package://hebi_description/meshes/X8.stl" scale="0.001 0.001 0.001"/>
      </geometry>
    </collision>
    <inertial>
      <mass value="0.5"/>
      <origin rpy="0 0 0" xyz="-0.0145 -0.0031 0.0242"/>
      <inertia ixx="0.000246" ixy="0.0000444" ixz="0.0000266" iyy="0.000380" iyz="0.00000422" izz="0.000463"/>
    </inertial>
  </link>
  <gazebo reference="Cricket/L2_J3_knee/INPUT_INTERFACE">
    <material>Gazebo/Red</material>
  </gazebo>
  <link name="HEBI_SIM/Cricket/L2_J3_knee/X8_16">
    <visual>
      <origin rpy="0 0 0" xyz="-0.03 0 0.02"/>
      <geometry>
        <sphere radius="0.001"/>
      </geometry>
    </visual>
    <inertial>
      <mass value="0.001"/>
      <origin rpy="0 0 0" xyz="0 0 0"/>
      <inertia ixx="0.000001" ixy="0" ixz="0" iyy="0.000001" iyz="0" izz="0.000001"/>
    </inertial>
  </link>
  <joint name="HEBI_SIM_JOINT/Cricket/L2_J3_knee" type="fixed">
    <parent link="Cricket/L2_J3_knee/INPUT_INTERFACE"/>
    <child link="HEBI_SIM/Cricket/L2_J3_knee/X8_16"/>
    <origin rpy="0 0 0" xyz="0 0 0"/>
  </joint>
  <gazebo reference="HEBI_SIM_JOINT/Cricket/L2_J3_knee">
    <disableFixedJointLumping>true</disableFixedJointLumping>
    <preserveFixedJoint>true</preserveFixedJoint>
  </gazebo>
  <joint name="Cricket/L2_J3_knee" type="continuous">
    <parent link="Cricket/L2_J3_knee/INPUT_INTERFACE"/>
    <child link="leg2_knee_ankle/INPUT_INTERFACE"/>
    <origin rpy="0 0 0" xyz="0 0 0.045"/>
    <axis xyz="0 0 1"/>
    <limit effort="38" velocity="1.571"/>
    <dynamics damping="0.5" friction="0.5"/>
  </joint>
  <link name="leg2_knee_ankle/INPUT_INTERFACE">
    <!-- Input Cap -->
    <visual>
      <origin rpy="0 0 0" xyz="0 0 0"/>
      <geometry>
        <mesh filename="package://hebi_description/meshes/A-2038-02.stl"/>
      </geometry>
      <material name="black">
        <color rgba="0.1 0.1 0.1 1"/>
      </material>
    </visual>
    <collision>
      <origin rpy="0 0 0" xyz="0 0 0"/>
      <geometry>
        <mesh filename="package://hebi_description/meshes/A-2038-02.stl"/>
      </geometry>
    </collision>
    <!-- Link Pipe -->
    <visual>
      <origin rpy="0 1.57075 0" xyz="0.1375 0 0.02"/>
      <geometry>
        <cylinder length="0.2496" radius=".016"/>
      </geometry>
      <material name="black">
        <color rgba="0.1 0.1 0.1 1"/>
      </material>
    </visual>
    <collision>
      <origin rpy="0 1.57075 0" xyz="0.1375 0 0.02"/>
      <geometry>
        <cylinder length="0.2496" radius=".016"/>
      </geometry>
    </collision>
    <!-- Output Cap -->
    <visual>
      <origin rpy="0 0 0" xyz="0.275 0.0 0.04"/>
      <geometry>
        <mesh filename="package://hebi_description/meshes/A-2039-02.stl"/>
      </geometry>
      <material name="black">
        <color rgba="0.1 0.1 0.1 1"/>
      </material>
    </visual>
    <collision>
      <origin rpy="0 0 0" xyz="0.275 0.0 0.04"/>
      <geometry>
        <mesh filename="package://hebi_description/meshes/A-2039-02.stl"/>
      </geometry>
    </collision>
    <!-- Approximate inertia as thin rod about x axis -->
    <inertial>
      <origin rpy="0 0 0" xyz="0.1375 0 0.02"/>
      <mass value="0.382"/>
      <inertia ixx="0.0" ixy="0.0" ixz="0.0" iyy="0.00240739583333" iyz="0.0" izz="0.00240739583333"/>
    </inertial>
  </link>
  <gazebo reference="leg2_knee_ankle/INPUT_INTERFACE">
    <material>Gazebo/Black</material>
  </gazebo>
  <joint name="leg2_knee_ankle/OUTPUT_JOINT" type="fixed">
    <parent link="leg2_knee_ankle/INPUT_INTERFACE"/>
    <child link="leg2_ankle_spacer/INPUT_INTERFACE"/>
    <origin rpy="0 0 0" xyz="0.275 -0.0 0.04"/>
  </joint>
  <gazebo reference="leg2_knee_ankle/OUTPUT_JOINT">
    <disableFixedJointLumping>true</disableFixedJointLumping>
    <preserveFixedJoint>true</preserveFixedJoint>
  </gazebo>
  <link name="leg2_ankle_spacer/INPUT_INTERFACE">
    <inertial>
      <mass value="0.01"/>
      <origin rpy="0 0 0" xyz="0 0 0"/>
      <inertia ixx="0.001" ixy="0" ixz="0" iyy="0.001" iyz="0" izz="0.001"/>
    </inertial>
  </link>
  <link name="Cricket/L2_J4_ankle/INPUT_INTERFACE">
    <visual>
      <origin rpy="0 0 0" xyz="0 0 0"/>
      <geometry>
        <mesh filename="package://hebi_description/meshes/X8.stl" scale="0.001 0.001 0.001"/>
      </geometry>
      <material name="red">
        <color rgba=".82 0.06 0.06 1"/>
      </material>
    </visual>
    <collision>
      <origin rpy="0 0 0" xyz="0 0 0"/>
      <geometry>
        <mesh filename="package://hebi_description/meshes/X8.stl" scale="0.001 0.001 0.001"/>
      </geometry>
    </collision>
    <inertial>
      <mass value="0.5"/>
      <origin rpy="0 0 0" xyz="-0.0145 -0.0031 0.0242"/>
      <inertia ixx="0.000246" ixy="0.0000444" ixz="0.0000266" iyy="0.000380" iyz="0.00000422" izz="0.000463"/>
    </inertial>
  </link>
  <gazebo reference="Cricket/L2_J4_ankle/INPUT_INTERFACE">
    <material>Gazebo/Red</material>
  </gazebo>
  <link name="HEBI_SIM/Cricket/L2_J4_ankle/X8_16">
    <visual>
      <origin rpy="0 0 0" xyz="-0.03 0 0.02"/>
      <geometry>
        <sphere radius="0.001"/>
      </geometry>
    </visual>
    <inertial>
      <mass value="0.001"/>
      <origin rpy="0 0 0" xyz="0 0 0"/>
      <inertia ixx="0.000001" ixy="0" ixz="0" iyy="0.000001" iyz="0" izz="0.000001"/>
    </inertial>
  </link>
  <joint name="HEBI_SIM_JOINT/Cricket/L2_J4_ankle" type="fixed">
    <parent link="Cricket/L2_J4_ankle/INPUT_INTERFACE"/>
    <child link="HEBI_SIM/Cricket/L2_J4_ankle/X8_16"/>
    <origin rpy="0 0 0" xyz="0 0 0"/>
  </joint>
  <gazebo reference="HEBI_SIM_JOINT/Cricket/L2_J4_ankle">
    <disableFixedJointLumping>true</disableFixedJointLumping>
    <preserveFixedJoint>true</preserveFixedJoint>
  </gazebo>
  <joint name="Cricket/L2_J4_ankle" type="continuous">
    <parent link="leg2_ankle_spacer/INPUT_INTERFACE"/>
    <child link="Cricket/L2_J4_ankle/INPUT_INTERFACE"/>
    <origin rpy="0 3.14159265359 0" xyz="0 0 0.045"/>
    <axis xyz="0 0 1"/>
    <limit effort="38" velocity="1.571"/>
    <dynamics damping="0.5" friction="0.5"/>
  </joint>
  <joint name="Cricket/L2_J4_ankle_fixed" type="fixed">
    <parent link="Cricket/L2_J4_ankle/INPUT_INTERFACE"/>
    <child link="leg2_track_bracket_1/INPUT_INTERFACE"/>
    <origin rpy="0 0 0" xyz="0 0 0"/>
  </joint>
  <link name="leg2_track_bracket_1/INPUT_INTERFACE">
    <visual>
      <origin rpy="0 0 0" xyz="-0.0685 0.0 -0.005"/>
      <geometry>
        <box size="0.15 0.05 0.01"/>
      </geometry>
      <material name="beige">
        <color rgba="0.96 0.945 0.871 1"/>
      </material>
    </visual>
    <inertial>
      <mass value="0.3"/>
      <origin rpy="0 0 0" xyz="0 0 0"/>
      <inertia ixx="0.001" ixy="0" ixz="0" iyy="0.001" iyz="0" izz="0.001"/>
    </inertial>
  </link>
  <joint name="leg2_track_bracket_1_child_joint" type="fixed">
    <origin rpy="0 0 0" xyz="-0.137 0.0 -0.01"/>
    <parent link="leg2_track_bracket_1/INPUT_INTERFACE"/>
    <child link="leg2_track_bracket_2/INPUT_INTERFACE"/>
  </joint>
  <link name="leg2_track_bracket_2/INPUT_INTERFACE">
    <visual>
      <origin rpy="0 0 0" xyz="0.0 0.0 0.025"/>
      <geometry>
        <box size="0.08 0.05 0.05"/>
      </geometry>
      <material name="beige">
        <color rgba="0.96 0.945 0.871 1"/>
      </material>
    </visual>
    <inertial>
      <mass value="0.3"/>
      <origin rpy="0 0 0" xyz="0 0 0"/>
      <inertia ixx="0.001" ixy="0" ixz="0" iyy="0.001" iyz="0" izz="0.001"/>
    </inertial>
  </link>
  <joint name="leg2_track_bracket_2_child_joint" type="fixed">
    <origin rpy="0 0 0" xyz="0.0 0.0 0.05"/>
    <parent link="leg2_track_bracket_2/INPUT_INTERFACE"/>
    <child link="leg2_track_bracket_3/INPUT_INTERFACE"/>
  </joint>
  <link name="leg2_track_bracket_3/INPUT_INTERFACE">
    <visual>
      <origin rpy="0 0 0" xyz="-0.0685 0.0 -0.005"/>
      <geometry>
        <box size="0.15 0.05 0.01"/>
      </geometry>
      <material name="beige">
        <color rgba="0.96 0.945 0.871 1"/>
      </material>
    </visual>
    <inertial>
      <mass value="0.3"/>
      <origin rpy="0 0 0" xyz="0 0 0"/>
      <inertia ixx="0.001" ixy="0" ixz="0" iyy="0.001" iyz="0" izz="0.001"/>
    </inertial>
  </link>
  <joint name="leg2_track_bracket_3_child_joint" type="fixed">
    <origin rpy="0 3.14159265359 0" xyz="-0.137 0.0 -0.01"/>
    <parent link="leg2_track_bracket_3/INPUT_INTERFACE"/>
    <child link="Cricket/L2_J5_track/INPUT_INTERFACE"/>
  </joint>
  <link name="Cricket/L2_J5_track/INPUT_INTERFACE">
    <visual>
      <origin rpy="0 0 0" xyz="0 0 0"/>
      <geometry>
        <mesh filename="package://hebi_description/meshes/X8.stl" scale="0.001 0.001 0.001"/>
      </geometry>
      <material name="red">
        <color rgba=".82 0.06 0.06 1"/>
      </material>
    </visual>
    <collision>
      <origin rpy="0 0 0" xyz="0 0 0"/>
      <geometry>
        <mesh filename="package://hebi_description/meshes/X8.stl" scale="0.001 0.001 0.001"/>
      </geometry>
    </collision>
    <inertial>
      <mass value="0.5"/>
      <origin rpy="0 0 0" xyz="-0.0145 -0.0031 0.0242"/>
      <inertia ixx="0.000246" ixy="0.0000444" ixz="0.0000266" iyy="0.000380" iyz="0.00000422" izz="0.000463"/>
    </inertial>
  </link>
  <gazebo reference="Cricket/L2_J5_track/INPUT_INTERFACE">
    <material>Gazebo/Red</material>
  </gazebo>
  <link name="HEBI_SIM/Cricket/L2_J5_track/X8_16">
    <visual>
      <origin rpy="0 0 0" xyz="-0.03 0 0.02"/>
      <geometry>
        <sphere radius="0.001"/>
      </geometry>
    </visual>
    <inertial>
      <mass value="0.001"/>
      <origin rpy="0 0 0" xyz="0 0 0"/>
      <inertia ixx="0.000001" ixy="0" ixz="0" iyy="0.000001" iyz="0" izz="0.000001"/>
    </inertial>
  </link>
  <joint name="HEBI_SIM_JOINT/Cricket/L2_J5_track" type="fixed">
    <parent link="Cricket/L2_J5_track/INPUT_INTERFACE"/>
    <child link="HEBI_SIM/Cricket/L2_J5_track/X8_16"/>
    <origin rpy="0 0 0" xyz="0 0 0"/>
  </joint>
  <gazebo reference="HEBI_SIM_JOINT/Cricket/L2_J5_track">
    <disableFixedJointLumping>true</disableFixedJointLumping>
    <preserveFixedJoint>true</preserveFixedJoint>
  </gazebo>
  <joint name="Cricket/L2_J5_track" type="continuous">
    <parent link="Cricket/L2_J5_track/INPUT_INTERFACE"/>
    <child link="leg2_drive_pulley/INPUT_INTERFACE"/>
    <origin rpy="0 0 0" xyz="0 0 0.045"/>
    <axis xyz="0 0 1"/>
    <limit effort="38" velocity="1.571"/>
    <dynamics damping="0.5" friction="0.5"/>
  </joint>
  <link name="leg2_drive_pulley/INPUT_INTERFACE">
    <visual>
      <origin rpy="0 0 0" xyz="0 0 0.020"/>
      <geometry>
        <cylinder length="0.033" radius="0.068"/>
      </geometry>
      <material name="black">
        <color rgba="0.1 0.1 0.1 1"/>
      </material>
    </visual>
    <collision>
      <origin rpy="0 0 0" xyz="0 0 0.020"/>
      <geometry>
        <cylinder length="0.033" radius="0.068"/>
      </geometry>
    </collision>
    <inertial>
      <mass value="0.1"/>
      <origin rpy="0 0 0" xyz="0 0 0"/>
      <inertia ixx="0.001" ixy="0" ixz="0" iyy="0.001" iyz="0" izz="0.001"/>
    </inertial>
  </link>
  <link name="leg2_idle_pulley">
    <visual>
      <origin rpy="0 0 0" xyz="0.0 0.0 -0.03"/>
      <geometry>
        <cylinder length="0.033" radius="0.068"/>
      </geometry>
      <material name="black">
        <color rgba="0.1 0.1 0.1 1"/>
      </material>
    </visual>
    <inertial>
      <mass value="0.1"/>
      <origin rpy="0 0 0" xyz="0 0 0"/>
      <inertia ixx="0.001" ixy="0" ixz="0" iyy="0.001" iyz="0" izz="0.001"/>
    </inertial>
  </link>
  <joint name="leg2_idle_pulley_joint" type="continuous">
    <origin rpy="0 0 0" xyz="0 0 0"/>
    <parent link="Cricket/L2_J4_ankle/INPUT_INTERFACE"/>
    <child link="leg2_idle_pulley"/>
    <axis xyz="0 0 1"/>
  </joint>
  <joint name="base_leg3_joint" type="fixed">
    <origin rpy="1.57079632679 0 3.14159265359" xyz="-0.135 0.100 0.030"/>
    <parent link="cricket_base"/>
    <child link="leg3_base_bracket/INPUT_INTERFACE"/>
  </joint>
  <link name="leg3_base_bracket/INPUT_INTERFACE">
    <visual>
      <origin rpy="0 0 0" xyz="0.0 0.0 0.01"/>
      <geometry>
        <box size="0.05 0.05 0.02"/>
      </geometry>
      <material name="beige">
        <color rgba="0.96 0.945 0.871 1"/>
      </material>
    </visual>
    <inertial>
      <mass value="0.05"/>
      <origin rpy="0 0 0" xyz="0 0 0"/>
      <inertia ixx="0.001" ixy="0" ixz="0" iyy="0.001" iyz="0" izz="0.001"/>
    </inertial>
  </link>
  <joint name="leg3_base_bracket_child_joint" type="fixed">
    <origin rpy="0 0 0" xyz="0.0 0.0 0.02"/>
    <parent link="leg3_base_bracket/INPUT_INTERFACE"/>
    <child link="leg3_base_shoulder1/INPUT_INTERFACE"/>
  </joint>
  <link name="leg3_base_shoulder1/INPUT_INTERFACE">
    <!-- Input Cap -->
    <visual>
      <origin rpy="0 0 0" xyz="0 0 0"/>
      <geometry>
        <mesh filename="package://hebi_description/meshes/A-2038-02.stl"/>
      </geometry>
      <material name="black">
        <color rgba="0.1 0.1 0.1 1"/>
      </material>
    </visual>
    <collision>
      <origin rpy="0 0 0" xyz="0 0 0"/>
      <geometry>
        <mesh filename="package://hebi_description/meshes/A-2038-02.stl"/>
      </geometry>
    </collision>
    <!-- Link Pipe -->
    <visual>
      <origin rpy="0 1.57075 0" xyz="0.0375 0 0.02"/>
      <geometry>
        <cylinder length="0.0496" radius=".016"/>
      </geometry>
      <material name="black">
        <color rgba="0.1 0.1 0.1 1"/>
      </material>
    </visual>
    <collision>
      <origin rpy="0 1.57075 0" xyz="0.0375 0 0.02"/>
      <geometry>
        <cylinder length="0.0496" radius=".016"/>
      </geometry>
    </collision>
    <!-- Output Cap -->
    <visual>
      <origin rpy="1.57079632679 4.71238898038 1.57079632679" xyz="0.075 0 0.02"/>
      <geometry>
        <mesh filename="package://hebi_description/meshes/A-2226-01.stl" scale="0.001 0.001 0.001"/>
      </geometry>
      <material name="black">
        <color rgba="0.1 0.1 0.1 1"/>
      </material>
    </visual>
    <collision>
      <origin rpy="1.57079632679 4.71238898038 1.57079632679" xyz="0.075 0 0.02"/>
      <geometry>
        <mesh filename="package://hebi_description/meshes/A-2039-02.stl"/>
      </geometry>
    </collision>
    <!-- Approximate inertia as thin rod about x axis -->
    <inertial>
      <origin rpy="0 0 0" xyz="0.0375 0 0.02"/>
      <mass value="0.302"/>
      <inertia ixx="0.0" ixy="0.0" ixz="0.0" iyy="0.0001415625" iyz="0.0" izz="0.0001415625"/>
    </inertial>
  </link>
  <gazebo reference="leg3_base_shoulder1/INPUT_INTERFACE">
    <material>Gazebo/Black</material>
  </gazebo>
  <joint name="leg3_base_shoulder1/OUTPUT_JOINT" type="fixed">
    <parent link="leg3_base_shoulder1/INPUT_INTERFACE"/>
    <child link="Cricket/L3_J1_shoulder1/INPUT_INTERFACE"/>
    <origin rpy="1.57079632679 4.71238898038 1.57079632679" xyz="0.075 0 0.02"/>
  </joint>
  <gazebo reference="leg3_base_shoulder1/OUTPUT_JOINT">
    <disableFixedJointLumping>true</disableFixedJointLumping>
    <preserveFixedJoint>true</preserveFixedJoint>
  </gazebo>
  <link name="Cricket/L3_J1_shoulder1/INPUT_INTERFACE">
    <visual>
      <origin rpy="0 0 0" xyz="0 0 0"/>
      <geometry>
        <mesh filename="package://hebi_description/meshes/X8.stl" scale="0.001 0.001 0.001"/>
      </geometry>
      <material name="red">
        <color rgba=".82 0.06 0.06 1"/>
      </material>
    </visual>
    <collision>
      <origin rpy="0 0 0" xyz="0 0 0"/>
      <geometry>
        <mesh filename="package://hebi_description/meshes/X8.stl" scale="0.001 0.001 0.001"/>
      </geometry>
    </collision>
    <inertial>
      <mass value="0.5"/>
      <origin rpy="0 0 0" xyz="-0.0145 -0.0031 0.0242"/>
      <inertia ixx="0.000246" ixy="0.0000444" ixz="0.0000266" iyy="0.000380" iyz="0.00000422" izz="0.000463"/>
    </inertial>
  </link>
  <gazebo reference="Cricket/L3_J1_shoulder1/INPUT_INTERFACE">
    <material>Gazebo/Red</material>
  </gazebo>
  <link name="HEBI_SIM/Cricket/L3_J1_shoulder1/X8_16">
    <visual>
      <origin rpy="0 0 0" xyz="-0.03 0 0.02"/>
      <geometry>
        <sphere radius="0.001"/>
      </geometry>
    </visual>
    <inertial>
      <mass value="0.001"/>
      <origin rpy="0 0 0" xyz="0 0 0"/>
      <inertia ixx="0.000001" ixy="0" ixz="0" iyy="0.000001" iyz="0" izz="0.000001"/>
    </inertial>
  </link>
  <joint name="HEBI_SIM_JOINT/Cricket/L3_J1_shoulder1" type="fixed">
    <parent link="Cricket/L3_J1_shoulder1/INPUT_INTERFACE"/>
    <child link="HEBI_SIM/Cricket/L3_J1_shoulder1/X8_16"/>
    <origin rpy="0 0 0" xyz="0 0 0"/>
  </joint>
  <gazebo reference="HEBI_SIM_JOINT/Cricket/L3_J1_shoulder1">
    <disableFixedJointLumping>true</disableFixedJointLumping>
    <preserveFixedJoint>true</preserveFixedJoint>
  </gazebo>
  <joint name="Cricket/L3_J1_shoulder1" type="continuous">
    <parent link="Cricket/L3_J1_shoulder1/INPUT_INTERFACE"/>
    <child link="leg_3_shoulder1_shoulder2/INPUT_INTERFACE"/>
    <origin rpy="0 0 0" xyz="0 0 0.045"/>
    <axis xyz="0 0 1"/>
    <limit effort="38" velocity="1.571"/>
    <dynamics damping="0.5" friction="0.5"/>
  </joint>
  <link name="leg_3_shoulder1_shoulder2/INPUT_INTERFACE">
    <visual>
      <origin rpy="1.57079632679 0 -1.57079632679" xyz="0 0 0.005"/>
      <geometry>
        <mesh filename="package://hebi_description/meshes/PM-2149-01.stl" scale="0.001 0.001 0.001"/>
      </geometry>
      <material name="black">
        <color rgba="0.1 0.1 0.1 1"/>
      </material>
    </visual>
    <visual>
      <origin rpy="1.57079632679 0 0" xyz="0 .03 .04"/>
      <geometry>
        <mesh filename="package://hebi_description/meshes/PM-2150-01R.stl" scale="0.001 0.001 0.001"/>
      </geometry>
      <material name="black">
        <color rgba="0.1 0.1 0.1 1"/>
      </material>
    </visual>
    <collision>
      <origin rpy="1.57079632679 0 -1.57079632679" xyz="0 0 0.005"/>
      <geometry>
        <mesh filename="package://hebi_description/meshes/PM-2149-01.stl" scale="0.001 0.001 0.001"/>
      </geometry>
    </collision>
    <collision>
      <origin rpy="1.57079632679 0 0" xyz="0 .03 .04"/>
      <geometry>
        <mesh filename="package://hebi_description/meshes/PM-2150-01R.stl" scale="0.001 0.001 0.001"/>
      </geometry>
    </collision>
    <!-- NOTE: inertia is just modelled as small sphere, and could be improved. -->
    <inertial>
      <origin rpy="0 0 0" xyz="0 0.01125 .0275"/>
      <mass value="0.215"/>
      <inertia ixx="0.0003096" ixy="0.0" ixz="0.0" iyy="0.0003096" iyz="0.0" izz="0.0003096"/>
    </inertial>
  </link>
  <gazebo reference="leg_3_shoulder1_shoulder2/INPUT_INTERFACE">
    <material>Gazebo/Black</material>
  </gazebo>
  <joint name="leg_3_shoulder1_shoulder2/OUTPUT_INTERFACE" type="fixed">
    <parent link="leg_3_shoulder1_shoulder2/INPUT_INTERFACE"/>
    <child link="Cricket/L3_J2_shoulder2/INPUT_INTERFACE"/>
    <origin rpy="1.57079632679 0 0" xyz="0 .0225 .055"/>
  </joint>
  <gazebo reference="leg_3_shoulder1_shoulder2/OUTPUT_INTERFACE">
    <disableFixedJointLumping>true</disableFixedJointLumping>
    <preserveFixedJoint>true</preserveFixedJoint>
  </gazebo>
  <link name="Cricket/L3_J2_shoulder2/INPUT_INTERFACE">
    <visual>
      <origin rpy="0 0 0" xyz="0 0 0"/>
      <geometry>
        <mesh filename="package://hebi_description/meshes/X8.stl" scale="0.001 0.001 0.001"/>
      </geometry>
      <material name="red">
        <color rgba=".82 0.06 0.06 1"/>
      </material>
    </visual>
    <collision>
      <origin rpy="0 0 0" xyz="0 0 0"/>
      <geometry>
        <mesh filename="package://hebi_description/meshes/X8.stl" scale="0.001 0.001 0.001"/>
      </geometry>
    </collision>
    <inertial>
      <mass value="0.5"/>
      <origin rpy="0 0 0" xyz="-0.0145 -0.0031 0.0242"/>
      <inertia ixx="0.000246" ixy="0.0000444" ixz="0.0000266" iyy="0.000380" iyz="0.00000422" izz="0.000463"/>
    </inertial>
  </link>
  <gazebo reference="Cricket/L3_J2_shoulder2/INPUT_INTERFACE">
    <material>Gazebo/Red</material>
  </gazebo>
  <link name="HEBI_SIM/Cricket/L3_J2_shoulder2/X8_16">
    <visual>
      <origin rpy="0 0 0" xyz="-0.03 0 0.02"/>
      <geometry>
        <sphere radius="0.001"/>
      </geometry>
    </visual>
    <inertial>
      <mass value="0.001"/>
      <origin rpy="0 0 0" xyz="0 0 0"/>
      <inertia ixx="0.000001" ixy="0" ixz="0" iyy="0.000001" iyz="0" izz="0.000001"/>
    </inertial>
  </link>
  <joint name="HEBI_SIM_JOINT/Cricket/L3_J2_shoulder2" type="fixed">
    <parent link="Cricket/L3_J2_shoulder2/INPUT_INTERFACE"/>
    <child link="HEBI_SIM/Cricket/L3_J2_shoulder2/X8_16"/>
    <origin rpy="0 0 0" xyz="0 0 0"/>
  </joint>
  <gazebo reference="HEBI_SIM_JOINT/Cricket/L3_J2_shoulder2">
    <disableFixedJointLumping>true</disableFixedJointLumping>
    <preserveFixedJoint>true</preserveFixedJoint>
  </gazebo>
  <joint name="Cricket/L3_J2_shoulder2" type="continuous">
    <parent link="Cricket/L3_J2_shoulder2/INPUT_INTERFACE"/>
    <child link="leg_3_knee_to_link_spacer/INPUT_INTERFACE"/>
    <origin rpy="0 0 0" xyz="0 0 0.045"/>
    <axis xyz="0 0 1"/>
    <limit effort="38" velocity="1.571"/>
    <dynamics damping="0.5" friction="0.5"/>
  </joint>
  <link name="leg_3_knee_to_link_spacer/INPUT_INTERFACE">
    <visual>
      <origin rpy="0 0 0" xyz="0.0 0.0 0.01"/>
      <geometry>
        <box size="0.05 0.05 0.02"/>
      </geometry>
      <material name="beige">
        <color rgba="0.96 0.945 0.871 1"/>
      </material>
    </visual>
    <inertial>
      <mass value="0.05"/>
      <origin rpy="0 0 0" xyz="0 0 0"/>
      <inertia ixx="0.001" ixy="0" ixz="0" iyy="0.001" iyz="0" izz="0.001"/>
    </inertial>
  </link>
  <joint name="leg_3_knee_to_link_spacer_child_joint" type="fixed">
    <origin rpy="0 0 0" xyz="0.0 0.0 0.02"/>
    <parent link="leg_3_knee_to_link_spacer/INPUT_INTERFACE"/>
    <child link="leg_3_shoulder2_knee/INPUT_INTERFACE"/>
  </joint>
  <link name="leg_3_shoulder2_knee/INPUT_INTERFACE">
    <!-- Input Cap -->
    <visual>
      <origin rpy="0 0 0" xyz="0 0 0"/>
      <geometry>
        <mesh filename="package://hebi_description/meshes/A-2038-02.stl"/>
      </geometry>
      <material name="black">
        <color rgba="0.1 0.1 0.1 1"/>
      </material>
    </visual>
    <collision>
      <origin rpy="0 0 0" xyz="0 0 0"/>
      <geometry>
        <mesh filename="package://hebi_description/meshes/A-2038-02.stl"/>
      </geometry>
    </collision>
    <!-- Link Pipe -->
    <visual>
      <origin rpy="0 1.57075 0" xyz="0.075 0 0.02"/>
      <geometry>
        <cylinder length="0.1246" radius=".016"/>
      </geometry>
      <material name="black">
        <color rgba="0.1 0.1 0.1 1"/>
      </material>
    </visual>
    <collision>
      <origin rpy="0 1.57075 0" xyz="0.075 0 0.02"/>
      <geometry>
        <cylinder length="0.1246" radius=".016"/>
      </geometry>
    </collision>
    <!-- Output Cap -->
    <visual>
      <origin rpy="0 0 0" xyz="0.15 0.0 0.04"/>
      <geometry>
        <mesh filename="package://hebi_description/meshes/A-2039-02.stl"/>
      </geometry>
      <material name="black">
        <color rgba="0.1 0.1 0.1 1"/>
      </material>
    </visual>
    <collision>
      <origin rpy="0 0 0" xyz="0.15 0.0 0.04"/>
      <geometry>
        <mesh filename="package://hebi_description/meshes/A-2039-02.stl"/>
      </geometry>
    </collision>
    <!-- Approximate inertia as thin rod about x axis -->
    <inertial>
      <origin rpy="0 0 0" xyz="0.075 0 0.02"/>
      <mass value="0.332"/>
      <inertia ixx="0.0" ixy="0.0" ixz="0.0" iyy="0.0006225" iyz="0.0" izz="0.0006225"/>
    </inertial>
  </link>
  <gazebo reference="leg_3_shoulder2_knee/INPUT_INTERFACE">
    <material>Gazebo/Black</material>
  </gazebo>
  <joint name="leg_3_shoulder2_knee/OUTPUT_JOINT" type="fixed">
    <parent link="leg_3_shoulder2_knee/INPUT_INTERFACE"/>
    <child link="Cricket/L3_J3_knee/INPUT_INTERFACE"/>
    <origin rpy="0 0 0" xyz="0.15 -0.0 0.04"/>
  </joint>
  <gazebo reference="leg_3_shoulder2_knee/OUTPUT_JOINT">
    <disableFixedJointLumping>true</disableFixedJointLumping>
    <preserveFixedJoint>true</preserveFixedJoint>
  </gazebo>
  <link name="Cricket/L3_J3_knee/INPUT_INTERFACE">
    <visual>
      <origin rpy="0 0 0" xyz="0 0 0"/>
      <geometry>
        <mesh filename="package://hebi_description/meshes/X8.stl" scale="0.001 0.001 0.001"/>
      </geometry>
      <material name="red">
        <color rgba=".82 0.06 0.06 1"/>
      </material>
    </visual>
    <collision>
      <origin rpy="0 0 0" xyz="0 0 0"/>
      <geometry>
        <mesh filename="package://hebi_description/meshes/X8.stl" scale="0.001 0.001 0.001"/>
      </geometry>
    </collision>
    <inertial>
      <mass value="0.5"/>
      <origin rpy="0 0 0" xyz="-0.0145 -0.0031 0.0242"/>
      <inertia ixx="0.000246" ixy="0.0000444" ixz="0.0000266" iyy="0.000380" iyz="0.00000422" izz="0.000463"/>
    </inertial>
  </link>
  <gazebo reference="Cricket/L3_J3_knee/INPUT_INTERFACE">
    <material>Gazebo/Red</material>
  </gazebo>
  <link name="HEBI_SIM/Cricket/L3_J3_knee/X8_16">
    <visual>
      <origin rpy="0 0 0" xyz="-0.03 0 0.02"/>
      <geometry>
        <sphere radius="0.001"/>
      </geometry>
    </visual>
    <inertial>
      <mass value="0.001"/>
      <origin rpy="0 0 0" xyz="0 0 0"/>
      <inertia ixx="0.000001" ixy="0" ixz="0" iyy="0.000001" iyz="0" izz="0.000001"/>
    </inertial>
  </link>
  <joint name="HEBI_SIM_JOINT/Cricket/L3_J3_knee" type="fixed">
    <parent link="Cricket/L3_J3_knee/INPUT_INTERFACE"/>
    <child link="HEBI_SIM/Cricket/L3_J3_knee/X8_16"/>
    <origin rpy="0 0 0" xyz="0 0 0"/>
  </joint>
  <gazebo reference="HEBI_SIM_JOINT/Cricket/L3_J3_knee">
    <disableFixedJointLumping>true</disableFixedJointLumping>
    <preserveFixedJoint>true</preserveFixedJoint>
  </gazebo>
  <joint name="Cricket/L3_J3_knee" type="continuous">
    <parent link="Cricket/L3_J3_knee/INPUT_INTERFACE"/>
    <child link="leg3_knee_ankle/INPUT_INTERFACE"/>
    <origin rpy="0 0 0" xyz="0 0 0.045"/>
    <axis xyz="0 0 1"/>
    <limit effort="38" velocity="1.571"/>
    <dynamics damping="0.5" friction="0.5"/>
  </joint>
  <link name="leg3_knee_ankle/INPUT_INTERFACE">
    <!-- Input Cap -->
    <visual>
      <origin rpy="0 0 0" xyz="0 0 0"/>
      <geometry>
        <mesh filename="package://hebi_description/meshes/A-2038-02.stl"/>
      </geometry>
      <material name="black">
        <color rgba="0.1 0.1 0.1 1"/>
      </material>
    </visual>
    <collision>
      <origin rpy="0 0 0" xyz="0 0 0"/>
      <geometry>
        <mesh filename="package://hebi_description/meshes/A-2038-02.stl"/>
      </geometry>
    </collision>
    <!-- Link Pipe -->
    <visual>
      <origin rpy="0 1.57075 0" xyz="0.1375 0 0.02"/>
      <geometry>
        <cylinder length="0.2496" radius=".016"/>
      </geometry>
      <material name="black">
        <color rgba="0.1 0.1 0.1 1"/>
      </material>
    </visual>
    <collision>
      <origin rpy="0 1.57075 0" xyz="0.1375 0 0.02"/>
      <geometry>
        <cylinder length="0.2496" radius=".016"/>
      </geometry>
    </collision>
    <!-- Output Cap -->
    <visual>
      <origin rpy="0 0 0" xyz="0.275 0.0 0.04"/>
      <geometry>
        <mesh filename="package://hebi_description/meshes/A-2039-02.stl"/>
      </geometry>
      <material name="black">
        <color rgba="0.1 0.1 0.1 1"/>
      </material>
    </visual>
    <collision>
      <origin rpy="0 0 0" xyz="0.275 0.0 0.04"/>
      <geometry>
        <mesh filename="package://hebi_description/meshes/A-2039-02.stl"/>
      </geometry>
    </collision>
    <!-- Approximate inertia as thin rod about x axis -->
    <inertial>
      <origin rpy="0 0 0" xyz="0.1375 0 0.02"/>
      <mass value="0.382"/>
      <inertia ixx="0.0" ixy="0.0" ixz="0.0" iyy="0.00240739583333" iyz="0.0" izz="0.00240739583333"/>
    </inertial>
  </link>
  <gazebo reference="leg3_knee_ankle/INPUT_INTERFACE">
    <material>Gazebo/Black</material>
  </gazebo>
  <joint name="leg3_knee_ankle/OUTPUT_JOINT" type="fixed">
    <parent link="leg3_knee_ankle/INPUT_INTERFACE"/>
    <child link="leg3_ankle_spacer/INPUT_INTERFACE"/>
    <origin rpy="0 0 0" xyz="0.275 -0.0 0.04"/>
  </joint>
  <gazebo reference="leg3_knee_ankle/OUTPUT_JOINT">
    <disableFixedJointLumping>true</disableFixedJointLumping>
    <preserveFixedJoint>true</preserveFixedJoint>
  </gazebo>
  <link name="leg3_ankle_spacer/INPUT_INTERFACE">
    <inertial>
      <mass value="0.01"/>
      <origin rpy="0 0 0" xyz="0 0 0"/>
      <inertia ixx="0.001" ixy="0" ixz="0" iyy="0.001" iyz="0" izz="0.001"/>
    </inertial>
  </link>
  <link name="Cricket/L3_J4_ankle/INPUT_INTERFACE">
    <visual>
      <origin rpy="0 0 0" xyz="0 0 0"/>
      <geometry>
        <mesh filename="package://hebi_description/meshes/X8.stl" scale="0.001 0.001 0.001"/>
      </geometry>
      <material name="red">
        <color rgba=".82 0.06 0.06 1"/>
      </material>
    </visual>
    <collision>
      <origin rpy="0 0 0" xyz="0 0 0"/>
      <geometry>
        <mesh filename="package://hebi_description/meshes/X8.stl" scale="0.001 0.001 0.001"/>
      </geometry>
    </collision>
    <inertial>
      <mass value="0.5"/>
      <origin rpy="0 0 0" xyz="-0.0145 -0.0031 0.0242"/>
      <inertia ixx="0.000246" ixy="0.0000444" ixz="0.0000266" iyy="0.000380" iyz="0.00000422" izz="0.000463"/>
    </inertial>
  </link>
  <gazebo reference="Cricket/L3_J4_ankle/INPUT_INTERFACE">
    <material>Gazebo/Red</material>
  </gazebo>
  <link name="HEBI_SIM/Cricket/L3_J4_ankle/X8_16">
    <visual>
      <origin rpy="0 0 0" xyz="-0.03 0 0.02"/>
      <geometry>
        <sphere radius="0.001"/>
      </geometry>
    </visual>
    <inertial>
      <mass value="0.001"/>
      <origin rpy="0 0 0" xyz="0 0 0"/>
      <inertia ixx="0.000001" ixy="0" ixz="0" iyy="0.000001" iyz="0" izz="0.000001"/>
    </inertial>
  </link>
  <joint name="HEBI_SIM_JOINT/Cricket/L3_J4_ankle" type="fixed">
    <parent link="Cricket/L3_J4_ankle/INPUT_INTERFACE"/>
    <child link="HEBI_SIM/Cricket/L3_J4_ankle/X8_16"/>
    <origin rpy="0 0 0" xyz="0 0 0"/>
  </joint>
  <gazebo reference="HEBI_SIM_JOINT/Cricket/L3_J4_ankle">
    <disableFixedJointLumping>true</disableFixedJointLumping>
    <preserveFixedJoint>true</preserveFixedJoint>
  </gazebo>
  <joint name="Cricket/L3_J4_ankle" type="continuous">
    <parent link="leg3_ankle_spacer/INPUT_INTERFACE"/>
    <child link="Cricket/L3_J4_ankle/INPUT_INTERFACE"/>
    <origin rpy="0 3.14159265359 0" xyz="0 0 0.045"/>
    <axis xyz="0 0 1"/>
    <limit effort="38" velocity="1.571"/>
    <dynamics damping="0.5" friction="0.5"/>
  </joint>
  <joint name="Cricket/L3_J4_ankle_fixed" type="fixed">
    <parent link="Cricket/L3_J4_ankle/INPUT_INTERFACE"/>
    <child link="leg3_track_bracket_1/INPUT_INTERFACE"/>
    <origin rpy="0 0 0" xyz="0 0 0"/>
  </joint>
  <link name="leg3_track_bracket_1/INPUT_INTERFACE">
    <visual>
      <origin rpy="0 0 0" xyz="-0.0685 0.0 -0.005"/>
      <geometry>
        <box size="0.15 0.05 0.01"/>
      </geometry>
      <material name="beige">
        <color rgba="0.96 0.945 0.871 1"/>
      </material>
    </visual>
    <inertial>
      <mass value="0.3"/>
      <origin rpy="0 0 0" xyz="0 0 0"/>
      <inertia ixx="0.001" ixy="0" ixz="0" iyy="0.001" iyz="0" izz="0.001"/>
    </inertial>
  </link>
  <joint name="leg3_track_bracket_1_child_joint" type="fixed">
    <origin rpy="0 0 0" xyz="-0.137 0.0 -0.01"/>
    <parent link="leg3_track_bracket_1/INPUT_INTERFACE"/>
    <child link="leg3_track_bracket_2/INPUT_INTERFACE"/>
  </joint>
  <link name="leg3_track_bracket_2/INPUT_INTERFACE">
    <visual>
      <origin rpy="0 0 0" xyz="0.0 0.0 0.025"/>
      <geometry>
        <box size="0.08 0.05 0.05"/>
      </geometry>
      <material name="beige">
        <color rgba="0.96 0.945 0.871 1"/>
      </material>
    </visual>
    <inertial>
      <mass value="0.3"/>
      <origin rpy="0 0 0" xyz="0 0 0"/>
      <inertia ixx="0.001" ixy="0" ixz="0" iyy="0.001" iyz="0" izz="0.001"/>
    </inertial>
  </link>
  <joint name="leg3_track_bracket_2_child_joint" type="fixed">
    <origin rpy="0 0 0" xyz="0.0 0.0 0.05"/>
    <parent link="leg3_track_bracket_2/INPUT_INTERFACE"/>
    <child link="leg3_track_bracket_3/INPUT_INTERFACE"/>
  </joint>
  <link name="leg3_track_bracket_3/INPUT_INTERFACE">
    <visual>
      <origin rpy="0 0 0" xyz="-0.0685 0.0 -0.005"/>
      <geometry>
        <box size="0.15 0.05 0.01"/>
      </geometry>
      <material name="beige">
        <color rgba="0.96 0.945 0.871 1"/>
      </material>
    </visual>
    <inertial>
      <mass value="0.3"/>
      <origin rpy="0 0 0" xyz="0 0 0"/>
      <inertia ixx="0.001" ixy="0" ixz="0" iyy="0.001" iyz="0" izz="0.001"/>
    </inertial>
  </link>
  <joint name="leg3_track_bracket_3_child_joint" type="fixed">
    <origin rpy="0 3.14159265359 0" xyz="-0.137 0.0 -0.01"/>
    <parent link="leg3_track_bracket_3/INPUT_INTERFACE"/>
    <child link="Cricket/L3_J5_track/INPUT_INTERFACE"/>
  </joint>
  <link name="Cricket/L3_J5_track/INPUT_INTERFACE">
    <visual>
      <origin rpy="0 0 0" xyz="0 0 0"/>
      <geometry>
        <mesh filename="package://hebi_description/meshes/X8.stl" scale="0.001 0.001 0.001"/>
      </geometry>
      <material name="red">
        <color rgba=".82 0.06 0.06 1"/>
      </material>
    </visual>
    <collision>
      <origin rpy="0 0 0" xyz="0 0 0"/>
      <geometry>
        <mesh filename="package://hebi_description/meshes/X8.stl" scale="0.001 0.001 0.001"/>
      </geometry>
    </collision>
    <inertial>
      <mass value="0.5"/>
      <origin rpy="0 0 0" xyz="-0.0145 -0.0031 0.0242"/>
      <inertia ixx="0.000246" ixy="0.0000444" ixz="0.0000266" iyy="0.000380" iyz="0.00000422" izz="0.000463"/>
    </inertial>
  </link>
  <gazebo reference="Cricket/L3_J5_track/INPUT_INTERFACE">
    <material>Gazebo/Red</material>
  </gazebo>
  <link name="HEBI_SIM/Cricket/L3_J5_track/X8_16">
    <visual>
      <origin rpy="0 0 0" xyz="-0.03 0 0.02"/>
      <geometry>
        <sphere radius="0.001"/>
      </geometry>
    </visual>
    <inertial>
      <mass value="0.001"/>
      <origin rpy="0 0 0" xyz="0 0 0"/>
      <inertia ixx="0.000001" ixy="0" ixz="0" iyy="0.000001" iyz="0" izz="0.000001"/>
    </inertial>
  </link>
  <joint name="HEBI_SIM_JOINT/Cricket/L3_J5_track" type="fixed">
    <parent link="Cricket/L3_J5_track/INPUT_INTERFACE"/>
    <child link="HEBI_SIM/Cricket/L3_J5_track/X8_16"/>
    <origin rpy="0 0 0" xyz="0 0 0"/>
  </joint>
  <gazebo reference="HEBI_SIM_JOINT/Cricket/L3_J5_track">
    <disableFixedJointLumping>true</disableFixedJointLumping>
    <preserveFixedJoint>true</preserveFixedJoint>
  </gazebo>
  <joint name="Cricket/L3_J5_track" type="continuous">
    <parent link="Cricket/L3_J5_track/INPUT_INTERFACE"/>
    <child link="leg3_drive_pulley/INPUT_INTERFACE"/>
    <origin rpy="0 0 0" xyz="0 0 0.045"/>
    <axis xyz="0 0 1"/>
    <limit effort="38" velocity="1.571"/>
    <dynamics damping="0.5" friction="0.5"/>
  </joint>
  <link name="leg3_drive_pulley/INPUT_INTERFACE">
    <visual>
      <origin rpy="0 0 0" xyz="0 0 0.020"/>
      <geometry>
        <cylinder length="0.033" radius="0.068"/>
      </geometry>
      <material name="black">
        <color rgba="0.1 0.1 0.1 1"/>
      </material>
    </visual>
    <collision>
      <origin rpy="0 0 0" xyz="0 0 0.020"/>
      <geometry>
        <cylinder length="0.033" radius="0.068"/>
      </geometry>
    </collision>
    <inertial>
      <mass value="0.1"/>
      <origin rpy="0 0 0" xyz="0 0 0"/>
      <inertia ixx="0.001" ixy="0" ixz="0" iyy="0.001" iyz="0" izz="0.001"/>
    </inertial>
  </link>
  <link name="leg3_idle_pulley">
    <visual>
      <origin rpy="0 0 0" xyz="0.0 0.0 -0.03"/>
      <geometry>
        <cylinder length="0.033" radius="0.068"/>
      </geometry>
      <material name="black">
        <color rgba="0.1 0.1 0.1 1"/>
      </material>
    </visual>
    <inertial>
      <mass value="0.1"/>
      <origin rpy="0 0 0" xyz="0 0 0"/>
      <inertia ixx="0.001" ixy="0" ixz="0" iyy="0.001" iyz="0" izz="0.001"/>
    </inertial>
  </link>
  <joint name="leg3_idle_pulley_joint" type="continuous">
    <origin rpy="0 0 0" xyz="0 0 0"/>
    <parent link="Cricket/L3_J4_ankle/INPUT_INTERFACE"/>
    <child link="leg3_idle_pulley"/>
    <axis xyz="0 0 1"/>
  </joint>
  <joint name="base_leg4_joint" type="fixed">
    <origin rpy="-1.57079632679 0 -3.14159265359" xyz="-0.135 -0.100 0.030"/>
    <parent link="cricket_base"/>
    <child link="leg4_base_bracket/INPUT_INTERFACE"/>
  </joint>
  <link name="leg4_base_bracket/INPUT_INTERFACE">
    <visual>
      <origin rpy="0 0 0" xyz="0.0 0.0 0.01"/>
      <geometry>
        <box size="0.05 0.05 0.02"/>
      </geometry>
      <material name="beige">
        <color rgba="0.96 0.945 0.871 1"/>
      </material>
    </visual>
    <inertial>
      <mass value="0.05"/>
      <origin rpy="0 0 0" xyz="0 0 0"/>
      <inertia ixx="0.001" ixy="0" ixz="0" iyy="0.001" iyz="0" izz="0.001"/>
    </inertial>
  </link>
  <joint name="leg4_base_bracket_child_joint" type="fixed">
    <origin rpy="0 0 0" xyz="0.0 0.0 0.02"/>
    <parent link="leg4_base_bracket/INPUT_INTERFACE"/>
    <child link="leg4_base_shoulder1/INPUT_INTERFACE"/>
  </joint>
  <link name="leg4_base_shoulder1/INPUT_INTERFACE">
    <!-- Input Cap -->
    <visual>
      <origin rpy="0 0 0" xyz="0 0 0"/>
      <geometry>
        <mesh filename="package://hebi_description/meshes/A-2038-02.stl"/>
      </geometry>
      <material name="black">
        <color rgba="0.1 0.1 0.1 1"/>
      </material>
    </visual>
    <collision>
      <origin rpy="0 0 0" xyz="0 0 0"/>
      <geometry>
        <mesh filename="package://hebi_description/meshes/A-2038-02.stl"/>
      </geometry>
    </collision>
    <!-- Link Pipe -->
    <visual>
      <origin rpy="0 1.57075 0" xyz="0.0375 0 0.02"/>
      <geometry>
        <cylinder length="0.0496" radius=".016"/>
      </geometry>
      <material name="black">
        <color rgba="0.1 0.1 0.1 1"/>
      </material>
    </visual>
    <collision>
      <origin rpy="0 1.57075 0" xyz="0.0375 0 0.02"/>
      <geometry>
        <cylinder length="0.0496" radius=".016"/>
      </geometry>
    </collision>
    <!-- Output Cap -->
    <visual>
      <origin rpy="1.57079632679 4.71238898038 1.57079632679" xyz="0.075 0 0.02"/>
      <geometry>
        <mesh filename="package://hebi_description/meshes/A-2226-01.stl" scale="0.001 0.001 0.001"/>
      </geometry>
      <material name="black">
        <color rgba="0.1 0.1 0.1 1"/>
      </material>
    </visual>
    <collision>
      <origin rpy="1.57079632679 4.71238898038 1.57079632679" xyz="0.075 0 0.02"/>
      <geometry>
        <mesh filename="package://hebi_description/meshes/A-2039-02.stl"/>
      </geometry>
    </collision>
    <!-- Approximate inertia as thin rod about x axis -->
    <inertial>
      <origin rpy="0 0 0" xyz="0.0375 0 0.02"/>
      <mass value="0.302"/>
      <inertia ixx="0.0" ixy="0.0" ixz="0.0" iyy="0.0001415625" iyz="0.0" izz="0.0001415625"/>
    </inertial>
  </link>
  <gazebo reference="leg4_base_shoulder1/INPUT_INTERFACE">
    <material>Gazebo/Black</material>
  </gazebo>
  <joint name="leg4_base_shoulder1/OUTPUT_JOINT" type="fixed">
    <parent link="leg4_base_shoulder1/INPUT_INTERFACE"/>
    <child link="Cricket/L4_J1_shoulder1/INPUT_INTERFACE"/>
    <origin rpy="1.57079632679 4.71238898038 1.57079632679" xyz="0.075 0 0.02"/>
  </joint>
  <gazebo reference="leg4_base_shoulder1/OUTPUT_JOINT">
    <disableFixedJointLumping>true</disableFixedJointLumping>
    <preserveFixedJoint>true</preserveFixedJoint>
  </gazebo>
  <link name="Cricket/L4_J1_shoulder1/INPUT_INTERFACE">
    <visual>
      <origin rpy="0 0 0" xyz="0 0 0"/>
      <geometry>
        <mesh filename="package://hebi_description/meshes/X8.stl" scale="0.001 0.001 0.001"/>
      </geometry>
      <material name="red">
        <color rgba=".82 0.06 0.06 1"/>
      </material>
    </visual>
    <collision>
      <origin rpy="0 0 0" xyz="0 0 0"/>
      <geometry>
        <mesh filename="package://hebi_description/meshes/X8.stl" scale="0.001 0.001 0.001"/>
      </geometry>
    </collision>
    <inertial>
      <mass value="0.5"/>
      <origin rpy="0 0 0" xyz="-0.0145 -0.0031 0.0242"/>
      <inertia ixx="0.000246" ixy="0.0000444" ixz="0.0000266" iyy="0.000380" iyz="0.00000422" izz="0.000463"/>
    </inertial>
  </link>
  <gazebo reference="Cricket/L4_J1_shoulder1/INPUT_INTERFACE">
    <material>Gazebo/Red</material>
  </gazebo>
  <link name="HEBI_SIM/Cricket/L4_J1_shoulder1/X8_16">
    <visual>
      <origin rpy="0 0 0" xyz="-0.03 0 0.02"/>
      <geometry>
        <sphere radius="0.001"/>
      </geometry>
    </visual>
    <inertial>
      <mass value="0.001"/>
      <origin rpy="0 0 0" xyz="0 0 0"/>
      <inertia ixx="0.000001" ixy="0" ixz="0" iyy="0.000001" iyz="0" izz="0.000001"/>
    </inertial>
  </link>
  <joint name="HEBI_SIM_JOINT/Cricket/L4_J1_shoulder1" type="fixed">
    <parent link="Cricket/L4_J1_shoulder1/INPUT_INTERFACE"/>
    <child link="HEBI_SIM/Cricket/L4_J1_shoulder1/X8_16"/>
    <origin rpy="0 0 0" xyz="0 0 0"/>
  </joint>
  <gazebo reference="HEBI_SIM_JOINT/Cricket/L4_J1_shoulder1">
    <disableFixedJointLumping>true</disableFixedJointLumping>
    <preserveFixedJoint>true</preserveFixedJoint>
  </gazebo>
  <joint name="Cricket/L4_J1_shoulder1" type="continuous">
    <parent link="Cricket/L4_J1_shoulder1/INPUT_INTERFACE"/>
    <child link="leg_4_shoulder1_shoulder2/INPUT_INTERFACE"/>
    <origin rpy="0 0 0" xyz="0 0 0.045"/>
    <axis xyz="0 0 1"/>
    <limit effort="38" velocity="1.571"/>
    <dynamics damping="0.5" friction="0.5"/>
  </joint>
  <link name="leg_4_shoulder1_shoulder2/INPUT_INTERFACE">
    <visual>
      <origin rpy="1.57079632679 0 1.57079632679" xyz="0 0 0.005"/>
      <geometry>
        <mesh filename="package://hebi_description/meshes/PM-2149-01.stl" scale="0.001 0.001 0.001"/>
      </geometry>
      <material name="black">
        <color rgba="0.1 0.1 0.1 1"/>
      </material>
    </visual>
    <visual>
      <origin rpy="1.57079632679 0 3.14159265359" xyz="0 -.03 .04"/>
      <geometry>
        <mesh filename="package://hebi_description/meshes/PM-2150-01L.stl" scale="0.001 0.001 0.001"/>
      </geometry>
      <material name="black">
        <color rgba="0.1 0.1 0.1 1"/>
      </material>
    </visual>
    <collision>
      <origin rpy="1.57079632679 0 1.57079632679" xyz="0 0 0.005"/>
      <geometry>
        <mesh filename="package://hebi_description/meshes/PM-2149-01.stl" scale="0.001 0.001 0.001"/>
      </geometry>
    </collision>
    <collision>
      <origin rpy="1.57079632679 0 3.14159265359" xyz="0 -.03 .04"/>
      <geometry>
        <mesh filename="package://hebi_description/meshes/PM-2150-01L.stl" scale="0.001 0.001 0.001"/>
      </geometry>
    </collision>
    <!-- NOTE: inertia is just modelled as small sphere, and could be improved. -->
    <inertial>
      <origin rpy="0 0 0" xyz="0 -0.01125 .0275"/>
      <mass value="0.215"/>
      <inertia ixx="0.0003096" ixy="0.0" ixz="0.0" iyy="0.0003096" iyz="0.0" izz="0.0003096"/>
    </inertial>
  </link>
  <gazebo reference="leg_4_shoulder1_shoulder2/INPUT_INTERFACE">
    <material>Gazebo/Black</material>
  </gazebo>
  <joint name="leg_4_shoulder1_shoulder2/OUTPUT_INTERFACE" type="fixed">
    <parent link="leg_4_shoulder1_shoulder2/INPUT_INTERFACE"/>
    <child link="Cricket/L4_J2_shoulder2/INPUT_INTERFACE"/>
    <origin rpy="-1.57079632679 0 0" xyz="0 -.0225 .055"/>
  </joint>
  <gazebo reference="leg_4_shoulder1_shoulder2/OUTPUT_INTERFACE">
    <disableFixedJointLumping>true</disableFixedJointLumping>
    <preserveFixedJoint>true</preserveFixedJoint>
  </gazebo>
  <link name="Cricket/L4_J2_shoulder2/INPUT_INTERFACE">
    <visual>
      <origin rpy="0 0 0" xyz="0 0 0"/>
      <geometry>
        <mesh filename="package://hebi_description/meshes/X8.stl" scale="0.001 0.001 0.001"/>
      </geometry>
      <material name="red">
        <color rgba=".82 0.06 0.06 1"/>
      </material>
    </visual>
    <collision>
      <origin rpy="0 0 0" xyz="0 0 0"/>
      <geometry>
        <mesh filename="package://hebi_description/meshes/X8.stl" scale="0.001 0.001 0.001"/>
      </geometry>
    </collision>
    <inertial>
      <mass value="0.5"/>
      <origin rpy="0 0 0" xyz="-0.0145 -0.0031 0.0242"/>
      <inertia ixx="0.000246" ixy="0.0000444" ixz="0.0000266" iyy="0.000380" iyz="0.00000422" izz="0.000463"/>
    </inertial>
  </link>
  <gazebo reference="Cricket/L4_J2_shoulder2/INPUT_INTERFACE">
    <material>Gazebo/Red</material>
  </gazebo>
  <link name="HEBI_SIM/Cricket/L4_J2_shoulder2/X8_16">
    <visual>
      <origin rpy="0 0 0" xyz="-0.03 0 0.02"/>
      <geometry>
        <sphere radius="0.001"/>
      </geometry>
    </visual>
    <inertial>
      <mass value="0.001"/>
      <origin rpy="0 0 0" xyz="0 0 0"/>
      <inertia ixx="0.000001" ixy="0" ixz="0" iyy="0.000001" iyz="0" izz="0.000001"/>
    </inertial>
  </link>
  <joint name="HEBI_SIM_JOINT/Cricket/L4_J2_shoulder2" type="fixed">
    <parent link="Cricket/L4_J2_shoulder2/INPUT_INTERFACE"/>
    <child link="HEBI_SIM/Cricket/L4_J2_shoulder2/X8_16"/>
    <origin rpy="0 0 0" xyz="0 0 0"/>
  </joint>
  <gazebo reference="HEBI_SIM_JOINT/Cricket/L4_J2_shoulder2">
    <disableFixedJointLumping>true</disableFixedJointLumping>
    <preserveFixedJoint>true</preserveFixedJoint>
  </gazebo>
  <joint name="Cricket/L4_J2_shoulder2" type="continuous">
    <parent link="Cricket/L4_J2_shoulder2/INPUT_INTERFACE"/>
    <child link="leg_4_knee_to_link_spacer/INPUT_INTERFACE"/>
    <origin rpy="0 0 0" xyz="0 0 0.045"/>
    <axis xyz="0 0 1"/>
    <limit effort="38" velocity="1.571"/>
    <dynamics damping="0.5" friction="0.5"/>
  </joint>
  <link name="leg_4_knee_to_link_spacer/INPUT_INTERFACE">
    <visual>
      <origin rpy="0 0 0" xyz="0.0 0.0 0.01"/>
      <geometry>
        <box size="0.05 0.05 0.02"/>
      </geometry>
      <material name="beige">
        <color rgba="0.96 0.945 0.871 1"/>
      </material>
    </visual>
    <inertial>
      <mass value="0.05"/>
      <origin rpy="0 0 0" xyz="0 0 0"/>
      <inertia ixx="0.001" ixy="0" ixz="0" iyy="0.001" iyz="0" izz="0.001"/>
    </inertial>
  </link>
  <joint name="leg_4_knee_to_link_spacer_child_joint" type="fixed">
    <origin rpy="0 0 0" xyz="0.0 0.0 0.02"/>
    <parent link="leg_4_knee_to_link_spacer/INPUT_INTERFACE"/>
    <child link="leg_4_shoulder2_knee/INPUT_INTERFACE"/>
  </joint>
  <link name="leg_4_shoulder2_knee/INPUT_INTERFACE">
    <!-- Input Cap -->
    <visual>
      <origin rpy="0 0 0" xyz="0 0 0"/>
      <geometry>
        <mesh filename="package://hebi_description/meshes/A-2038-02.stl"/>
      </geometry>
      <material name="black">
        <color rgba="0.1 0.1 0.1 1"/>
      </material>
    </visual>
    <collision>
      <origin rpy="0 0 0" xyz="0 0 0"/>
      <geometry>
        <mesh filename="package://hebi_description/meshes/A-2038-02.stl"/>
      </geometry>
    </collision>
    <!-- Link Pipe -->
    <visual>
      <origin rpy="0 1.57075 0" xyz="0.075 0 0.02"/>
      <geometry>
        <cylinder length="0.1246" radius=".016"/>
      </geometry>
      <material name="black">
        <color rgba="0.1 0.1 0.1 1"/>
      </material>
    </visual>
    <collision>
      <origin rpy="0 1.57075 0" xyz="0.075 0 0.02"/>
      <geometry>
        <cylinder length="0.1246" radius=".016"/>
      </geometry>
    </collision>
    <!-- Output Cap -->
    <visual>
      <origin rpy="0 0 0" xyz="0.15 0.0 0.04"/>
      <geometry>
        <mesh filename="package://hebi_description/meshes/A-2039-02.stl"/>
      </geometry>
      <material name="black">
        <color rgba="0.1 0.1 0.1 1"/>
      </material>
    </visual>
    <collision>
      <origin rpy="0 0 0" xyz="0.15 0.0 0.04"/>
      <geometry>
        <mesh filename="package://hebi_description/meshes/A-2039-02.stl"/>
      </geometry>
    </collision>
    <!-- Approximate inertia as thin rod about x axis -->
    <inertial>
      <origin rpy="0 0 0" xyz="0.075 0 0.02"/>
      <mass value="0.332"/>
      <inertia ixx="0.0" ixy="0.0" ixz="0.0" iyy="0.0006225" iyz="0.0" izz="0.0006225"/>
    </inertial>
  </link>
  <gazebo reference="leg_4_shoulder2_knee/INPUT_INTERFACE">
    <material>Gazebo/Black</material>
  </gazebo>
  <joint name="leg_4_shoulder2_knee/OUTPUT_JOINT" type="fixed">
    <parent link="leg_4_shoulder2_knee/INPUT_INTERFACE"/>
    <child link="Cricket/L4_J3_knee/INPUT_INTERFACE"/>
    <origin rpy="0 0 0" xyz="0.15 -0.0 0.04"/>
  </joint>
  <gazebo reference="leg_4_shoulder2_knee/OUTPUT_JOINT">
    <disableFixedJointLumping>true</disableFixedJointLumping>
    <preserveFixedJoint>true</preserveFixedJoint>
  </gazebo>
  <link name="Cricket/L4_J3_knee/INPUT_INTERFACE">
    <visual>
      <origin rpy="0 0 0" xyz="0 0 0"/>
      <geometry>
        <mesh filename="package://hebi_description/meshes/X8.stl" scale="0.001 0.001 0.001"/>
      </geometry>
      <material name="red">
        <color rgba=".82 0.06 0.06 1"/>
      </material>
    </visual>
    <collision>
      <origin rpy="0 0 0" xyz="0 0 0"/>
      <geometry>
        <mesh filename="package://hebi_description/meshes/X8.stl" scale="0.001 0.001 0.001"/>
      </geometry>
    </collision>
    <inertial>
      <mass value="0.5"/>
      <origin rpy="0 0 0" xyz="-0.0145 -0.0031 0.0242"/>
      <inertia ixx="0.000246" ixy="0.0000444" ixz="0.0000266" iyy="0.000380" iyz="0.00000422" izz="0.000463"/>
    </inertial>
  </link>
  <gazebo reference="Cricket/L4_J3_knee/INPUT_INTERFACE">
    <material>Gazebo/Red</material>
  </gazebo>
  <link name="HEBI_SIM/Cricket/L4_J3_knee/X8_16">
    <visual>
      <origin rpy="0 0 0" xyz="-0.03 0 0.02"/>
      <geometry>
        <sphere radius="0.001"/>
      </geometry>
    </visual>
    <inertial>
      <mass value="0.001"/>
      <origin rpy="0 0 0" xyz="0 0 0"/>
      <inertia ixx="0.000001" ixy="0" ixz="0" iyy="0.000001" iyz="0" izz="0.000001"/>
    </inertial>
  </link>
  <joint name="HEBI_SIM_JOINT/Cricket/L4_J3_knee" type="fixed">
    <parent link="Cricket/L4_J3_knee/INPUT_INTERFACE"/>
    <child link="HEBI_SIM/Cricket/L4_J3_knee/X8_16"/>
    <origin rpy="0 0 0" xyz="0 0 0"/>
  </joint>
  <gazebo reference="HEBI_SIM_JOINT/Cricket/L4_J3_knee">
    <disableFixedJointLumping>true</disableFixedJointLumping>
    <preserveFixedJoint>true</preserveFixedJoint>
  </gazebo>
  <joint name="Cricket/L4_J3_knee" type="continuous">
    <parent link="Cricket/L4_J3_knee/INPUT_INTERFACE"/>
    <child link="leg4_knee_ankle/INPUT_INTERFACE"/>
    <origin rpy="0 0 0" xyz="0 0 0.045"/>
    <axis xyz="0 0 1"/>
    <limit effort="38" velocity="1.571"/>
    <dynamics damping="0.5" friction="0.5"/>
  </joint>
  <link name="leg4_knee_ankle/INPUT_INTERFACE">
    <!-- Input Cap -->
    <visual>
      <origin rpy="0 0 0" xyz="0 0 0"/>
      <geometry>
        <mesh filename="package://hebi_description/meshes/A-2038-02.stl"/>
      </geometry>
      <material name="black">
        <color rgba="0.1 0.1 0.1 1"/>
      </material>
    </visual>
    <collision>
      <origin rpy="0 0 0" xyz="0 0 0"/>
      <geometry>
        <mesh filename="package://hebi_description/meshes/A-2038-02.stl"/>
      </geometry>
    </collision>
    <!-- Link Pipe -->
    <visual>
      <origin rpy="0 1.57075 0" xyz="0.1375 0 0.02"/>
      <geometry>
        <cylinder length="0.2496" radius=".016"/>
      </geometry>
      <material name="black">
        <color rgba="0.1 0.1 0.1 1"/>
      </material>
    </visual>
    <collision>
      <origin rpy="0 1.57075 0" xyz="0.1375 0 0.02"/>
      <geometry>
        <cylinder length="0.2496" radius=".016"/>
      </geometry>
    </collision>
    <!-- Output Cap -->
    <visual>
      <origin rpy="0 0 0" xyz="0.275 0.0 0.04"/>
      <geometry>
        <mesh filename="package://hebi_description/meshes/A-2039-02.stl"/>
      </geometry>
      <material name="black">
        <color rgba="0.1 0.1 0.1 1"/>
      </material>
    </visual>
    <collision>
      <origin rpy="0 0 0" xyz="0.275 0.0 0.04"/>
      <geometry>
        <mesh filename="package://hebi_description/meshes/A-2039-02.stl"/>
      </geometry>
    </collision>
    <!-- Approximate inertia as thin rod about x axis -->
    <inertial>
      <origin rpy="0 0 0" xyz="0.1375 0 0.02"/>
      <mass value="0.382"/>
      <inertia ixx="0.0" ixy="0.0" ixz="0.0" iyy="0.00240739583333" iyz="0.0" izz="0.00240739583333"/>
    </inertial>
  </link>
  <gazebo reference="leg4_knee_ankle/INPUT_INTERFACE">
    <material>Gazebo/Black</material>
  </gazebo>
  <joint name="leg4_knee_ankle/OUTPUT_JOINT" type="fixed">
    <parent link="leg4_knee_ankle/INPUT_INTERFACE"/>
    <child link="leg4_ankle_spacer/INPUT_INTERFACE"/>
    <origin rpy="0 0 0" xyz="0.275 -0.0 0.04"/>
  </joint>
  <gazebo reference="leg4_knee_ankle/OUTPUT_JOINT">
    <disableFixedJointLumping>true</disableFixedJointLumping>
    <preserveFixedJoint>true</preserveFixedJoint>
  </gazebo>
  <link name="leg4_ankle_spacer/INPUT_INTERFACE">
    <inertial>
      <mass value="0.01"/>
      <origin rpy="0 0 0" xyz="0 0 0"/>
      <inertia ixx="0.001" ixy="0" ixz="0" iyy="0.001" iyz="0" izz="0.001"/>
    </inertial>
  </link>
  <link name="Cricket/L4_J4_ankle/INPUT_INTERFACE">
    <visual>
      <origin rpy="0 0 0" xyz="0 0 0"/>
      <geometry>
        <mesh filename="package://hebi_description/meshes/X8.stl" scale="0.001 0.001 0.001"/>
      </geometry>
      <material name="red">
        <color rgba=".82 0.06 0.06 1"/>
      </material>
    </visual>
    <collision>
      <origin rpy="0 0 0" xyz="0 0 0"/>
      <geometry>
        <mesh filename="package://hebi_description/meshes/X8.stl" scale="0.001 0.001 0.001"/>
      </geometry>
    </collision>
    <inertial>
      <mass value="0.5"/>
      <origin rpy="0 0 0" xyz="-0.0145 -0.0031 0.0242"/>
      <inertia ixx="0.000246" ixy="0.0000444" ixz="0.0000266" iyy="0.000380" iyz="0.00000422" izz="0.000463"/>
    </inertial>
  </link>
  <gazebo reference="Cricket/L4_J4_ankle/INPUT_INTERFACE">
    <material>Gazebo/Red</material>
  </gazebo>
  <link name="HEBI_SIM/Cricket/L4_J4_ankle/X8_16">
    <visual>
      <origin rpy="0 0 0" xyz="-0.03 0 0.02"/>
      <geometry>
        <sphere radius="0.001"/>
      </geometry>
    </visual>
    <inertial>
      <mass value="0.001"/>
      <origin rpy="0 0 0" xyz="0 0 0"/>
      <inertia ixx="0.000001" ixy="0" ixz="0" iyy="0.000001" iyz="0" izz="0.000001"/>
    </inertial>
  </link>
  <joint name="HEBI_SIM_JOINT/Cricket/L4_J4_ankle" type="fixed">
    <parent link="Cricket/L4_J4_ankle/INPUT_INTERFACE"/>
    <child link="HEBI_SIM/Cricket/L4_J4_ankle/X8_16"/>
    <origin rpy="0 0 0" xyz="0 0 0"/>
  </joint>
  <gazebo reference="HEBI_SIM_JOINT/Cricket/L4_J4_ankle">
    <disableFixedJointLumping>true</disableFixedJointLumping>
    <preserveFixedJoint>true</preserveFixedJoint>
  </gazebo>
  <joint name="Cricket/L4_J4_ankle" type="continuous">
    <parent link="leg4_ankle_spacer/INPUT_INTERFACE"/>
    <child link="Cricket/L4_J4_ankle/INPUT_INTERFACE"/>
    <origin rpy="0 3.14159265359 0" xyz="0 0 0.045"/>
    <axis xyz="0 0 1"/>
    <limit effort="38" velocity="1.571"/>
    <dynamics damping="0.5" friction="0.5"/>
  </joint>
  <joint name="Cricket/L4_J4_ankle_fixed" type="fixed">
    <parent link="Cricket/L4_J4_ankle/INPUT_INTERFACE"/>
    <child link="leg4_track_bracket_1/INPUT_INTERFACE"/>
    <origin rpy="0 0 0" xyz="0 0 0"/>
  </joint>
  <link name="leg4_track_bracket_1/INPUT_INTERFACE">
    <visual>
      <origin rpy="0 0 0" xyz="-0.0685 0.0 -0.005"/>
      <geometry>
        <box size="0.15 0.05 0.01"/>
      </geometry>
      <material name="beige">
        <color rgba="0.96 0.945 0.871 1"/>
      </material>
    </visual>
    <inertial>
      <mass value="0.3"/>
      <origin rpy="0 0 0" xyz="0 0 0"/>
      <inertia ixx="0.001" ixy="0" ixz="0" iyy="0.001" iyz="0" izz="0.001"/>
    </inertial>
  </link>
  <joint name="leg4_track_bracket_1_child_joint" type="fixed">
    <origin rpy="0 0 0" xyz="-0.137 0.0 -0.01"/>
    <parent link="leg4_track_bracket_1/INPUT_INTERFACE"/>
    <child link="leg4_track_bracket_2/INPUT_INTERFACE"/>
  </joint>
  <link name="leg4_track_bracket_2/INPUT_INTERFACE">
    <visual>
      <origin rpy="0 0 0" xyz="0.0 0.0 0.025"/>
      <geometry>
        <box size="0.08 0.05 0.05"/>
      </geometry>
      <material name="beige">
        <color rgba="0.96 0.945 0.871 1"/>
      </material>
    </visual>
    <inertial>
      <mass value="0.3"/>
      <origin rpy="0 0 0" xyz="0 0 0"/>
      <inertia ixx="0.001" ixy="0" ixz="0" iyy="0.001" iyz="0" izz="0.001"/>
    </inertial>
  </link>
  <joint name="leg4_track_bracket_2_child_joint" type="fixed">
    <origin rpy="0 0 0" xyz="0.0 0.0 0.05"/>
    <parent link="leg4_track_bracket_2/INPUT_INTERFACE"/>
    <child link="leg4_track_bracket_3/INPUT_INTERFACE"/>
  </joint>
  <link name="leg4_track_bracket_3/INPUT_INTERFACE">
    <visual>
      <origin rpy="0 0 0" xyz="-0.0685 0.0 -0.005"/>
      <geometry>
        <box size="0.15 0.05 0.01"/>
      </geometry>
      <material name="beige">
        <color rgba="0.96 0.945 0.871 1"/>
      </material>
    </visual>
    <inertial>
      <mass value="0.3"/>
      <origin rpy="0 0 0" xyz="0 0 0"/>
      <inertia ixx="0.001" ixy="0" ixz="0" iyy="0.001" iyz="0" izz="0.001"/>
    </inertial>
  </link>
  <joint name="leg4_track_bracket_3_child_joint" type="fixed">
    <origin rpy="0 3.14159265359 0" xyz="-0.137 0.0 -0.01"/>
    <parent link="leg4_track_bracket_3/INPUT_INTERFACE"/>
    <child link="Cricket/L4_J5_track/INPUT_INTERFACE"/>
  </joint>
  <link name="Cricket/L4_J5_track/INPUT_INTERFACE">
    <visual>
      <origin rpy="0 0 0" xyz="0 0 0"/>
      <geometry>
        <mesh filename="package://hebi_description/meshes/X8.stl" scale="0.001 0.001 0.001"/>
      </geometry>
      <material name="red">
        <color rgba=".82 0.06 0.06 1"/>
      </material>
    </visual>
    <collision>
      <origin rpy="0 0 0" xyz="0 0 0"/>
      <geometry>
        <mesh filename="package://hebi_description/meshes/X8.stl" scale="0.001 0.001 0.001"/>
      </geometry>
    </collision>
    <inertial>
      <mass value="0.5"/>
      <origin rpy="0 0 0" xyz="-0.0145 -0.0031 0.0242"/>
      <inertia ixx="0.000246" ixy="0.0000444" ixz="0.0000266" iyy="0.000380" iyz="0.00000422" izz="0.000463"/>
    </inertial>
  </link>
  <gazebo reference="Cricket/L4_J5_track/INPUT_INTERFACE">
    <material>Gazebo/Red</material>
  </gazebo>
  <link name="HEBI_SIM/Cricket/L4_J5_track/X8_16">
    <visual>
      <origin rpy="0 0 0" xyz="-0.03 0 0.02"/>
      <geometry>
        <sphere radius="0.001"/>
      </geometry>
    </visual>
    <inertial>
      <mass value="0.001"/>
      <origin rpy="0 0 0" xyz="0 0 0"/>
      <inertia ixx="0.000001" ixy="0" ixz="0" iyy="0.000001" iyz="0" izz="0.000001"/>
    </inertial>
  </link>
  <joint name="HEBI_SIM_JOINT/Cricket/L4_J5_track" type="fixed">
    <parent link="Cricket/L4_J5_track/INPUT_INTERFACE"/>
    <child link="HEBI_SIM/Cricket/L4_J5_track/X8_16"/>
    <origin rpy="0 0 0" xyz="0 0 0"/>
  </joint>
  <gazebo reference="HEBI_SIM_JOINT/Cricket/L4_J5_track">
    <disableFixedJointLumping>true</disableFixedJointLumping>
    <preserveFixedJoint>true</preserveFixedJoint>
  </gazebo>
  <joint name="Cricket/L4_J5_track" type="continuous">
    <parent link="Cricket/L4_J5_track/INPUT_INTERFACE"/>
    <child link="leg4_drive_pulley/INPUT_INTERFACE"/>
    <origin rpy="0 0 0" xyz="0 0 0.045"/>
    <axis xyz="0 0 1"/>
    <limit effort="38" velocity="1.571"/>
    <dynamics damping="0.5" friction="0.5"/>
  </joint>
  <link name="leg4_drive_pulley/INPUT_INTERFACE">
    <visual>
      <origin rpy="0 0 0" xyz="0 0 0.020"/>
      <geometry>
        <cylinder length="0.033" radius="0.068"/>
      </geometry>
      <material name="black">
        <color rgba="0.1 0.1 0.1 1"/>
      </material>
    </visual>
    <collision>
      <origin rpy="0 0 0" xyz="0 0 0.020"/>
      <geometry>
        <cylinder length="0.033" radius="0.068"/>
      </geometry>
    </collision>
    <inertial>
      <mass value="0.1"/>
      <origin rpy="0 0 0" xyz="0 0 0"/>
      <inertia ixx="0.001" ixy="0" ixz="0" iyy="0.001" iyz="0" izz="0.001"/>
    </inertial>
  </link>
  <link name="leg4_idle_pulley">
    <visual>
      <origin rpy="0 0 0" xyz="0.0 0.0 -0.03"/>
      <geometry>
        <cylinder length="0.033" radius="0.068"/>
      </geometry>
      <material name="black">
        <color rgba="0.1 0.1 0.1 1"/>
      </material>
    </visual>
    <inertial>
      <mass value="0.1"/>
      <origin rpy="0 0 0" xyz="0 0 0"/>
      <inertia ixx="0.001" ixy="0" ixz="0" iyy="0.001" iyz="0" izz="0.001"/>
    </inertial>
  </link>
  <joint name="leg4_idle_pulley_joint" type="continuous">
    <origin rpy="0 0 0" xyz="0 0 0"/>
    <parent link="Cricket/L4_J4_ankle/INPUT_INTERFACE"/>
    <child link="leg4_idle_pulley"/>
    <axis xyz="0 0 1"/>
  </joint>
</robot>
